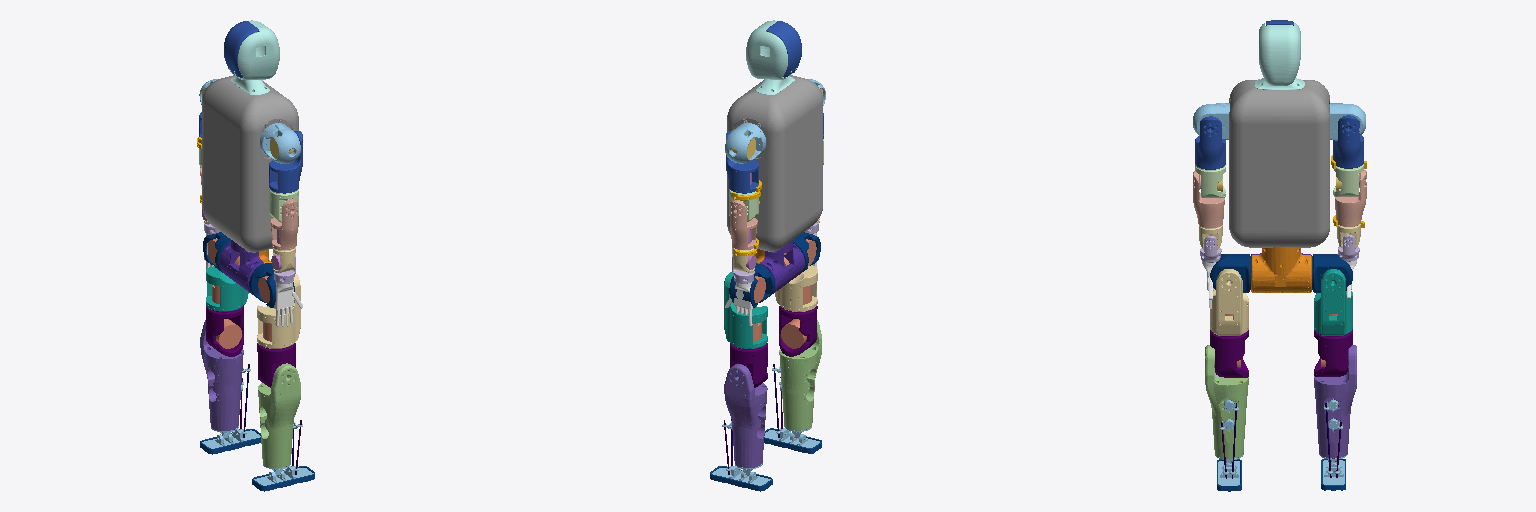
--- Facts derived from the render (not from the file) ---
3 views of the same robot in one strip: view 1: azimuth 30°, elevation 25°; view 2: azimuth 150°, elevation 25°; view 3: azimuth 270°, elevation 25° (orthographic).
Model robot_harambe with 26 links and 25 joints (23 revolute, 2 fixed), rooted at urdf_base, posed all joints at 0.
Visible links, largest first — view 1: urdf_simplified_torso_sub_assembly, urdf_r_tibia_assembly, urdf_l_tibia_assembly, urdf_r_upper_femur_assemby, urdf_lower_femur_assembly, urdf_l_upper_femur_assembly, urdf_base, urdf_r_shoulder_assembly, urdf_r_upper_arm_assembly, urdf_r_upper_forearm_assembly, urdf_lower_femur_assembly_2, urdf_r_wrist_assembly (+2 smaller); view 2: urdf_simplified_torso_sub_assembly, urdf_l_tibia_assembly, urdf_r_tibia_assembly, urdf_l_upper_femur_assembly, urdf_lower_femur_assembly_2, urdf_r_upper_femur_assemby, urdf_base, urdf_l_shoulder_assembly, urdf_l_upper_forearm_assembly, urdf_l_upper_arm_assembly, urdf_lower_femur_assembly, urdf_hip_assembly (+2 smaller); view 3: urdf_simplified_torso_sub_assembly, urdf_r_tibia_assembly, urdf_l_tibia_assembly, urdf_base, urdf_r_upper_femur_assemby, urdf_l_upper_femur_assembly, urdf_l_upper_arm_assembly, urdf_lower_femur_assembly_2, urdf_r_upper_arm_assembly, urdf_lower_femur_assembly, urdf_l_upper_forearm_assembly, urdf_r_upper_forearm_assembly (+7 smaller).
Boxes of the visible links, x1,y1,x2,y2 form: urdf_simplified_torso_sub_assembly: (202, 20, 298, 252); urdf_r_tibia_assembly: (252, 363, 314, 491); urdf_l_tibia_assembly: (200, 320, 260, 454); urdf_r_upper_femur_assemby: (257, 274, 300, 348); urdf_lower_femur_assembly: (206, 305, 243, 356); urdf_l_upper_femur_assembly: (206, 266, 248, 311); urdf_base: (219, 240, 271, 294); urdf_r_shoulder_assembly: (260, 123, 300, 163); urdf_r_upper_arm_assembly: (269, 131, 302, 193); urdf_r_upper_forearm_assembly: (271, 200, 297, 249); urdf_lower_femur_assembly_2: (257, 343, 295, 387); urdf_r_wrist_assembly: (274, 253, 302, 326); urdf_simplified_torso_sub_assembly: (727, 20, 822, 251); urdf_l_tibia_assembly: (710, 364, 772, 491); urdf_r_tibia_assembly: (764, 320, 821, 453); urdf_l_upper_femur_assembly: (724, 272, 767, 348); urdf_lower_femur_assembly_2: (779, 306, 817, 356); urdf_r_upper_femur_assemby: (775, 265, 817, 311); urdf_base: (755, 240, 804, 293); urdf_l_shoulder_assembly: (725, 123, 765, 163); urdf_l_upper_forearm_assembly: (730, 200, 758, 249); urdf_l_upper_arm_assembly: (726, 131, 761, 193); urdf_lower_femur_assembly: (730, 343, 767, 387); urdf_hip_assembly: (729, 263, 774, 307); urdf_simplified_torso_sub_assembly: (1229, 20, 1329, 247); urdf_r_tibia_assembly: (1205, 345, 1248, 491); urdf_l_tibia_assembly: (1314, 345, 1356, 490); urdf_base: (1251, 247, 1311, 292); urdf_r_upper_femur_assemby: (1210, 269, 1248, 335); urdf_l_upper_femur_assembly: (1314, 269, 1352, 335); urdf_l_upper_arm_assembly: (1331, 115, 1363, 168); urdf_lower_femur_assembly_2: (1210, 330, 1248, 377); urdf_r_upper_arm_assembly: (1195, 116, 1225, 169); urdf_lower_femur_assembly: (1314, 330, 1352, 376); urdf_l_upper_forearm_assembly: (1333, 170, 1366, 226); urdf_r_upper_forearm_assembly: (1193, 171, 1224, 227).
Size in the robot's own frame: 0.272 by 0.6192 by 1.77 metres.
130 mesh visuals loaded from 55 distinct referenced files (55 binary STL).

The robot description file, URDF, robot "robot_harambe":
<?xml version='1.0' encoding='utf-8'?>
<robot name="robot_harambe">
  <link name="urdf_base">
    <inertial>
      <origin xyz="0.0334604 -0.000699269 -0.431702" rpy="0 0 0" />
      <mass value="5.132" />
      <inertia ixx="0.0288848" ixy="2.35276e-07" ixz="-2.88595e-05" iyy="0.0213139" iyz="-6.5838e-06" izz="0.0155352" />
    </inertial>
    <visual>
      <origin xyz="0.0333787 0.0103011 -0.467748" rpy="-1.5708 0.785398 0" />
      <geometry>
        <mesh filename="package://assets/stator_x8_p20_120_unified.stl" />
      </geometry>
      <material name="stator_x8_p20_120_unified_material">
        <color rgba="0.882353 0.572549 0.478431 1" />
      </material>
    </visual>
    <collision>
      <origin xyz="0.0333787 0.0103011 -0.467748" rpy="-1.5708 0.785398 0" />
      <geometry>
        <mesh filename="package://assets/stator_x8_p20_120_unified.stl" />
      </geometry>
    </collision>
    <visual>
      <origin xyz="-0.00271429 -0.000697952 -0.432504" rpy="0 0 -1.5708" />
      <geometry>
        <mesh filename="package://assets/b_base.stl" />
      </geometry>
      <material name="b_base_material">
        <color rgba="0.368627 0.25098 0.643137 1" />
      </material>
    </visual>
    <collision>
      <origin xyz="-0.00271429 -0.000697952 -0.432504" rpy="0 0 -1.5708" />
      <geometry>
        <mesh filename="package://assets/b_base.stl" />
      </geometry>
    </collision>
    <visual>
      <origin xyz="0.0333787 -0.0116989 -0.467748" rpy="1.5708 -0.785398 0" />
      <geometry>
        <mesh filename="package://assets/stator_x8_p20_120_unified.stl" />
      </geometry>
      <material name="stator_x8_p20_120_unified_2_material">
        <color rgba="0.882353 0.572549 0.478431 1" />
      </material>
    </visual>
    <collision>
      <origin xyz="0.0333787 -0.0116989 -0.467748" rpy="1.5708 -0.785398 0" />
      <geometry>
        <mesh filename="package://assets/stator_x8_p20_120_unified.stl" />
      </geometry>
    </collision>
    <visual>
      <origin xyz="0.0333787 -0.000698852 -0.396748" rpy="0 0 -1.5708" />
      <geometry>
        <mesh filename="package://assets/stator_x8_p20_120_unified.stl" />
      </geometry>
      <material name="stator_x8_p20_120_unified_3_material">
        <color rgba="0.882353 0.572549 0.478431 1" />
      </material>
    </visual>
    <collision>
      <origin xyz="0.0333787 -0.000698852 -0.396748" rpy="0 0 -1.5708" />
      <geometry>
        <mesh filename="package://assets/stator_x8_p20_120_unified.stl" />
      </geometry>
    </collision>
    <visual>
      <origin xyz="0.070373 -0.000705351 -0.431099" rpy="0 0 -1.5708" />
      <geometry>
        <mesh filename="package://assets/f_base.stl" />
      </geometry>
      <material name="f_base_material">
        <color rgba="0.909804 0.572549 0.164706 1" />
      </material>
    </visual>
    <collision>
      <origin xyz="0.070373 -0.000705351 -0.431099" rpy="0 0 -1.5708" />
      <geometry>
        <mesh filename="package://assets/f_base.stl" />
      </geometry>
    </collision>
  </link>
  <link name="urdf_simplified_torso_sub_assembly">
    <inertial>
      <origin xyz="0.00084485 -0.00587549 0.417851" rpy="0 0 0" />
      <mass value="9.22071" />
      <inertia ixx="0.324451" ixy="2.3692e-08" ixz="-0.00208618" iyy="0.220452" iyz="-0.000110066" izz="0.138166" />
    </inertial>
    <visual>
      <origin xyz="4.00834e-06 -0.168755 0.427883" rpy="0 0 -1.5708" />
      <geometry>
        <mesh filename="package://assets/urdf_r_plate_shoulder_with_limiter_pla.stl" />
      </geometry>
      <material name="urdf_r_plate_shoulder_with_limiter_pla_material">
        <color rgba="0.647059 0.647059 0.647059 1" />
      </material>
    </visual>
    <collision>
      <origin xyz="4.00834e-06 -0.168755 0.427883" rpy="0 0 -1.5708" />
      <geometry>
        <mesh filename="package://assets/urdf_r_plate_shoulder_with_limiter_pla.stl" />
      </geometry>
    </collision>
    <visual>
      <origin xyz="4.00839e-06 0.156752 0.427883" rpy="0 0 -1.5708" />
      <geometry>
        <mesh filename="package://assets/urdf_l_plate_shoulder_with_limiter_pla.stl" />
      </geometry>
      <material name="urdf_l_plate_shoulder_with_limiter_pla_material">
        <color rgba="0.615686 0.811765 0.929412 1" />
      </material>
    </visual>
    <collision>
      <origin xyz="4.00839e-06 0.156752 0.427883" rpy="0 0 -1.5708" />
      <geometry>
        <mesh filename="package://assets/urdf_l_plate_shoulder_with_limiter_pla.stl" />
      </geometry>
    </collision>
    <visual>
      <origin xyz="4.00839e-06 -0.0990017 0.427" rpy="-3.14159 1.57079 1.5708" />
      <geometry>
        <mesh filename="package://assets/stator_x6_p20_60_unified.stl" />
      </geometry>
      <material name="stator_x6_p20_60_unified_material">
        <color rgba="0.960784 0.835294 0.470588 1" />
      </material>
    </visual>
    <collision>
      <origin xyz="4.00839e-06 -0.0990017 0.427" rpy="-3.14159 1.57079 1.5708" />
      <geometry>
        <mesh filename="package://assets/stator_x6_p20_60_unified.stl" />
      </geometry>
    </collision>
    <visual>
      <origin xyz="4.00839e-06 0.0869983 0.427" rpy="0 1.57079 1.5708" />
      <geometry>
        <mesh filename="package://assets/stator_x6_p20_60_unified.stl" />
      </geometry>
      <material name="stator_x6_p20_60_unified_2_material">
        <color rgba="0.960784 0.835294 0.470588 1" />
      </material>
    </visual>
    <collision>
      <origin xyz="4.00839e-06 0.0869983 0.427" rpy="0 1.57079 1.5708" />
      <geometry>
        <mesh filename="package://assets/stator_x6_p20_60_unified.stl" />
      </geometry>
    </collision>
    <visual>
      <origin xyz="4.00844e-06 -0.00600172 0.2625" rpy="0 0 -1.5708" />
      <geometry>
        <mesh filename="package://assets/urdf_simplified_torso.stl" />
      </geometry>
      <material name="urdf_simplified_torso_material">
        <color rgba="0.647059 0.647059 0.647059 1" />
      </material>
    </visual>
    <collision>
      <origin xyz="4.00844e-06 -0.00600172 0.2625" rpy="0 0 -1.5708" />
      <geometry>
        <mesh filename="package://assets/urdf_simplified_torso.stl" />
      </geometry>
    </collision>
    <visual>
      <origin xyz="0 0 0.005" rpy="0 0 -1.5708" />
      <geometry>
        <mesh filename="package://assets/urdf_torso_pelvis_plate_pla.stl" />
      </geometry>
      <material name="urdf_torso_pelvis_plate_pla_material">
        <color rgba="0.231373 0.380392 0.705882 1" />
      </material>
    </visual>
    <collision>
      <origin xyz="0 0 0.005" rpy="0 0 -1.5708" />
      <geometry>
        <mesh filename="package://assets/urdf_torso_pelvis_plate_pla.stl" />
      </geometry>
    </collision>
    <visual>
      <origin xyz="4.18304e-05 -0.00635981 0.6725" rpy="0 0 -1.5708" />
      <geometry>
        <mesh filename="package://assets/head.stl" />
      </geometry>
      <material name="head_material">
        <color rgba="0.737255 0.937255 0.917647 1" />
      </material>
    </visual>
    <collision>
      <origin xyz="4.18304e-05 -0.00635981 0.6725" rpy="0 0 -1.5708" />
      <geometry>
        <mesh filename="package://assets/head.stl" />
      </geometry>
    </collision>
    <visual>
      <origin xyz="4.18304e-05 -0.00635981 0.674429" rpy="0 0 -1.5708" />
      <geometry>
        <mesh filename="package://assets/back_access.stl" />
      </geometry>
      <material name="back_access_material">
        <color rgba="0.231373 0.380392 0.705882 1" />
      </material>
    </visual>
    <collision>
      <origin xyz="4.18304e-05 -0.00635981 0.674429" rpy="0 0 -1.5708" />
      <geometry>
        <mesh filename="package://assets/back_access.stl" />
      </geometry>
    </collision>
  </link>
  <link name="urdf_l_shoulder_assembly">
    <inertial>
      <origin xyz="-0.00497539 0.06724 -1.66088e-05" rpy="0 0 0" />
      <mass value="3.07135" />
      <inertia ixx="0.0035417" ixy="-2.84269e-05" ixz="-1.44615e-06" iyy="0.00290943" iyz="-3.53609e-06" izz="0.00313077" />
    </inertial>
    <visual>
      <origin xyz="-0.00130076 0.0502746 -6.96176e-06" rpy="0 0 -1.5708" />
      <geometry>
        <mesh filename="package://assets/l_shoulder.stl" />
      </geometry>
      <material name="l_shoulder_material">
        <color rgba="0.615686 0.811765 0.929412 1" />
      </material>
    </visual>
    <collision>
      <origin xyz="-0.00130076 0.0502746 -6.96176e-06" rpy="0 0 -1.5708" />
      <geometry>
        <mesh filename="package://assets/l_shoulder.stl" />
      </geometry>
    </collision>
    <visual>
      <origin xyz="-0.0385 0.07 1.02163e-07" rpy="-1.5708 0 -1.5708" />
      <geometry>
        <mesh filename="package://assets/stator_x6_p20_60_unified.stl" />
      </geometry>
      <material name="stator_x6_p20_60_unified_3_material">
        <color rgba="0.960784 0.835294 0.470588 1" />
      </material>
    </visual>
    <collision>
      <origin xyz="-0.0385 0.07 1.02163e-07" rpy="-1.5708 0 -1.5708" />
      <geometry>
        <mesh filename="package://assets/stator_x6_p20_60_unified.stl" />
      </geometry>
    </collision>
  </link>
  <link name="urdf_l_upper_arm_assembly">
    <inertial>
      <origin xyz="-0.0355919 -0.00100166 -0.105781" rpy="0 0 0" />
      <mass value="0.822" />
      <inertia ixx="0.0019913" ixy="-1.65839e-05" ixz="-0.00049977" iyy="0.00215042" iyz="-4.34174e-05" izz="0.00109808" />
    </inertial>
    <visual>
      <origin xyz="-0.0675144 -0.0411513 -0.158216" rpy="0 0 -1.5708" />
      <geometry>
        <mesh filename="package://assets/arm_limiter.stl" />
      </geometry>
      <material name="arm_limiter_material">
        <color rgba="1 0.756863 0.054902 1" />
      </material>
    </visual>
    <collision>
      <origin xyz="-0.0675144 -0.0411513 -0.158216" rpy="0 0 -1.5708" />
      <geometry>
        <mesh filename="package://assets/arm_limiter.stl" />
      </geometry>
    </collision>
    <visual>
      <origin xyz="-0.0256703 -3.97868e-07 -0.0912885" rpy="0 0 -1.5708" />
      <geometry>
        <mesh filename="package://assets/l_upper_arm.stl" />
      </geometry>
      <material name="l_upper_arm_material">
        <color rgba="0.231373 0.380392 0.705882 1" />
      </material>
    </visual>
    <collision>
      <origin xyz="-0.0256703 -3.97868e-07 -0.0912885" rpy="0 0 -1.5708" />
      <geometry>
        <mesh filename="package://assets/l_upper_arm.stl" />
      </geometry>
    </collision>
    <visual>
      <origin xyz="-0.046 -3.34262e-07 -0.091" rpy="3.14159 0 -1.5708" />
      <geometry>
        <mesh filename="package://assets/stator_x4_p36_36_unified.stl" />
      </geometry>
      <material name="stator_x4_p36_36_unified_material">
        <color rgba="0.764706 0.545098 0.803922 1" />
      </material>
    </visual>
    <collision>
      <origin xyz="-0.046 -3.34262e-07 -0.091" rpy="3.14159 0 -1.5708" />
      <geometry>
        <mesh filename="package://assets/stator_x4_p36_36_unified.stl" />
      </geometry>
    </collision>
  </link>
  <link name="urdf_l_elbow_assembly">
    <inertial>
      <origin xyz="-0.000233513 -0.00994774 -0.0631484" rpy="0 0 0" />
      <mass value="2.98735" />
      <inertia ixx="0.00298255" ixy="2.33726e-05" ixz="3.70633e-05" iyy="0.00314902" iyz="-0.000124999" izz="0.00265174" />
    </inertial>
    <visual>
      <origin xyz="-0.0350673 0.0364319 -0.00907087" rpy="0 0 -1.5708" />
      <geometry>
        <mesh filename="package://assets/elbow_limiter.stl" />
      </geometry>
      <material name="elbow_limiter_material">
        <color rgba="1 0.756863 0.054902 1" />
      </material>
    </visual>
    <collision>
      <origin xyz="-0.0350673 0.0364319 -0.00907087" rpy="0 0 -1.5708" />
      <geometry>
        <mesh filename="package://assets/elbow_limiter.stl" />
      </geometry>
    </collision>
    <visual>
      <origin xyz="0 -0.0445 -0.065" rpy="0 1.57079 1.5708" />
      <geometry>
        <mesh filename="package://assets/stator_x6_p20_60_unified.stl" />
      </geometry>
      <material name="stator_x6_p20_60_unified_4_material">
        <color rgba="0.960784 0.835294 0.470588 1" />
      </material>
    </visual>
    <collision>
      <origin xyz="0 -0.0445 -0.065" rpy="0 1.57079 1.5708" />
      <geometry>
        <mesh filename="package://assets/stator_x6_p20_60_unified.stl" />
      </geometry>
    </collision>
    <visual>
      <origin xyz="1.15447e-05 0.000331628 -0.0512953" rpy="0 0 -1.5708" />
      <geometry>
        <mesh filename="package://assets/l_elbow.stl" />
      </geometry>
      <material name="l_elbow_material">
        <color rgba="0.796078 0.905882 0.745098 1" />
      </material>
    </visual>
    <collision>
      <origin xyz="1.15447e-05 0.000331628 -0.0512953" rpy="0 0 -1.5708" />
      <geometry>
        <mesh filename="package://assets/l_elbow.stl" />
      </geometry>
    </collision>
  </link>
  <link name="urdf_l_upper_forearm_assembly">
    <inertial>
      <origin xyz="0.00170809 -0.0340287 -0.103744" rpy="0 0 0" />
      <mass value="0.727" />
      <inertia ixx="0.00176929" ixy="1.34904e-06" ixz="-5.81831e-06" iyy="0.0015348" iyz="-0.000394864" izz="0.000766079" />
    </inertial>
    <visual>
      <origin xyz="-0.0189086 -0.0747704 -0.156122" rpy="0 0 -1.5708" />
      <geometry>
        <mesh filename="package://assets/forearm_limiter.stl" />
      </geometry>
      <material name="forearm_limiter_material">
        <color rgba="1 0.756863 0.054902 1" />
      </material>
    </visual>
    <collision>
      <origin xyz="-0.0189086 -0.0747704 -0.156122" rpy="0 0 -1.5708" />
      <geometry>
        <mesh filename="package://assets/forearm_limiter.stl" />
      </geometry>
    </collision>
    <visual>
      <origin xyz="0.00467041 -0.0254855 -0.0842108" rpy="0 0 -1.5708" />
      <geometry>
        <mesh filename="package://assets/l_upper_forearm.stl" />
      </geometry>
      <material name="l_upper_forearm_material">
        <color rgba="0.890196 0.698039 0.639216 1" />
      </material>
    </visual>
    <collision>
      <origin xyz="0.00467041 -0.0254855 -0.0842108" rpy="0 0 -1.5708" />
      <geometry>
        <mesh filename="package://assets/l_upper_forearm.stl" />
      </geometry>
    </collision>
    <visual>
      <origin xyz="3.30588e-07 -0.04 -0.09" rpy="-3.14159 0 -1.5708" />
      <geometry>
        <mesh filename="package://assets/stator_x4_p36_36_unified.stl" />
      </geometry>
      <material name="stator_x4_p36_36_unified_2_material">
        <color rgba="0.764706 0.545098 0.803922 1" />
      </material>
    </visual>
    <collision>
      <origin xyz="3.30588e-07 -0.04 -0.09" rpy="-3.14159 0 -1.5708" />
      <geometry>
        <mesh filename="package://assets/stator_x4_p36_36_unified.stl" />
      </geometry>
    </collision>
  </link>
  <link name="urdf_l_lower_forearm_assembly">
    <inertial>
      <origin xyz="-0.00570813 0.00114678 -0.0477193" rpy="0 0 0" />
      <mass value="0.553" />
      <inertia ixx="0.000521453" ixy="6.12847e-06" ixz="-1.24836e-05" iyy="0.000524359" iyz="-2.55712e-05" izz="0.000391379" />
    </inertial>
    <visual>
      <origin xyz="-0.0248862 0.0317086 -0.00779106" rpy="0 0 -1.5708" />
      <geometry>
        <mesh filename="package://assets/hand_limiter.stl" />
      </geometry>
      <material name="hand_limiter_material">
        <color rgba="1 0.756863 0.054902 1" />
      </material>
    </visual>
    <collision>
      <origin xyz="-0.0248862 0.0317086 -0.00779106" rpy="0 0 -1.5708" />
      <geometry>
        <mesh filename="package://assets/hand_limiter.stl" />
      </geometry>
    </collision>
    <visual>
      <origin xyz="0.00198299 3.7846e-08 -0.0340631" rpy="0 0 -1.5708" />
      <geometry>
        <mesh filename="package://assets/l_lower_forearm.stl" />
      </geometry>
      <material name="l_lower_forearm_material">
        <color rgba="0.941176 0.87451 0.678431 1" />
      </material>
    </visual>
    <collision>
      <origin xyz="0.00198299 3.7846e-08 -0.0340631" rpy="0 0 -1.5708" />
      <geometry>
        <mesh filename="package://assets/l_lower_forearm.stl" />
      </geometry>
    </collision>
    <visual>
      <origin xyz="-0.038 0 -0.0565" rpy="1.5708 0 1.57079" />
      <geometry>
        <mesh filename="package://assets/stator_x4_p36_36_unified.stl" />
      </geometry>
      <material name="stator_x4_p36_36_unified_3_material">
        <color rgba="0.764706 0.545098 0.803922 1" />
      </material>
    </visual>
    <collision>
      <origin xyz="-0.038 0 -0.0565" rpy="1.5708 0 1.57079" />
      <geometry>
        <mesh filename="package://assets/stator_x4_p36_36_unified.stl" />
      </geometry>
    </collision>
  </link>
  <link name="urdf_l_wrist_assembly">
    <inertial>
      <origin xyz="-0.0282716 1.08315e-06 -0.112614" rpy="0 0 0" />
      <mass value="0.398" />
      <inertia ixx="0.00146537" ixy="-7.037e-09" ixz="-5.58167e-05" iyy="0.00160501" iyz="-2.3164e-08" izz="0.000274862" />
    </inertial>
    <visual>
      <origin xyz="-0.0219314 4.31502e-06 -0.0434653" rpy="0 0 -1.5708" />
      <geometry>
        <mesh filename="package://assets/l_wrist.stl" />
      </geometry>
      <material name="l_wrist_material">
        <color rgba="0.8 0.74902 0.913725 1" />
      </material>
    </visual>
    <collision>
      <origin xyz="-0.0219314 4.31502e-06 -0.0434653" rpy="0 0 -1.5708" />
      <geometry>
        <mesh filename="package://assets/l_wrist.stl" />
      </geometry>
    </collision>
    <visual>
      <origin xyz="-0.0303429 2.67e-09 -0.135203" rpy="0 0 0" />
      <geometry>
        <mesh filename="package://assets/l_hand.stl" />
      </geometry>
      <material name="l_hand_material">
        <color rgba="1 1 1 1" />
      </material>
    </visual>
    <collision>
      <origin xyz="-0.0303429 2.67e-09 -0.135203" rpy="0 0 0" />
      <geometry>
        <mesh filename="package://assets/l_hand.stl" />
      </geometry>
    </collision>
  </link>
  <joint name="left_wrist_roll_joint_X4" type="revolute">
    <origin xyz="0.033 0 -0.0565" rpy="0 0 0" />
    <parent link="urdf_l_lower_forearm_assembly" />
    <child link="urdf_l_wrist_assembly" />
    <axis xyz="1 0 0" />
    <limit effort="10" velocity="10" lower="-1.5708" upper="1.5708" />
  </joint>
  <joint name="left_wrist_yaw_joint_X4" type="revolute">
    <origin xyz="6.17098e-07 -0.04 -0.168" rpy="0 0 0" />
    <parent link="urdf_l_upper_forearm_assembly" />
    <child link="urdf_l_lower_forearm_assembly" />
    <axis xyz="0 0 1" />
    <limit effort="10" velocity="10" lower="-2.35619" upper="2.35619" />
  </joint>
  <joint name="left_elbow_pitch_joint_X6" type="revolute">
    <origin xyz="0 0.04 -0.065" rpy="0 0 0" />
    <parent link="urdf_l_elbow_assembly" />
    <child link="urdf_l_upper_forearm_assembly" />
    <axis xyz="0 1 0" />
    <limit effort="10" velocity="10" lower="-1.5708" upper="1.5708" />
  </joint>
  <joint name="left_shoulder_yaw_joint_X4" type="revolute">
    <origin xyz="-0.046 -6.24445e-07 -0.17" rpy="0 0 0" />
    <parent link="urdf_l_upper_arm_assembly" />
    <child link="urdf_l_elbow_assembly" />
    <axis xyz="0 0 1" />
    <limit effort="10" velocity="10" lower="-2.35619" upper="2.35619" />
  </joint>
  <joint name="left_shoulder_roll_joint_X6" type="revolute">
    <origin xyz="0.036 0.07 -9.55292e-08" rpy="0 0 0" />
    <parent link="urdf_l_shoulder_assembly" />
    <child link="urdf_l_upper_arm_assembly" />
    <axis xyz="1 0 0" />
    <limit effort="10" velocity="10" lower="0" upper="3.14159" />
  </joint>
  <joint name="left_shoulder_pitch_joint_X6" type="revolute">
    <origin xyz="4.00839e-06 0.169498 0.427" rpy="0 0 0" />
    <parent link="urdf_simplified_torso_sub_assembly" />
    <child link="urdf_l_shoulder_assembly" />
    <axis xyz="0 1 0" />
    <limit effort="10" velocity="10" lower="-3.14159" upper="1.5708" />
  </joint>
  <link name="urdf_r_shoulder_assembly">
    <inertial>
      <origin xyz="-0.00525946 -0.0685921 -9.06105e-06" rpy="0 0 0" />
      <mass value="2.84535" />
      <inertia ixx="0.00278215" ixy="1.19902e-05" ixz="-7.27684e-07" iyy="0.00243401" iyz="1.8265e-06" izz="0.00253762" />
    </inertial>
    <visual>
      <origin xyz="-0.0385 -0.07 1.02163e-07" rpy="-1.5708 0 -1.5708" />
      <geometry>
        <mesh filename="package://assets/stator_x6_p20_60_unified.stl" />
      </geometry>
      <material name="stator_x6_p20_60_unified_5_material">
        <color rgba="0.960784 0.835294 0.470588 1" />
      </material>
    </visual>
    <collision>
      <origin xyz="-0.0385 -0.07 1.02163e-07" rpy="-1.5708 0 -1.5708" />
      <geometry>
        <mesh filename="package://assets/stator_x6_p20_60_unified.stl" />
      </geometry>
    </collision>
    <visual>
      <origin xyz="-0.00129067 -0.0501448 -6.90836e-06" rpy="0 0 -1.5708" />
      <geometry>
        <mesh filename="package://assets/r_shoulder.stl" />
      </geometry>
      <material name="r_shoulder_material">
        <color rgba="0.615686 0.811765 0.929412 1" />
      </material>
    </visual>
    <collision>
      <origin xyz="-0.00129067 -0.0501448 -6.90836e-06" rpy="0 0 -1.5708" />
      <geometry>
        <mesh filename="package://assets/r_shoulder.stl" />
      </geometry>
    </collision>
  </link>
  <link name="urdf_r_upper_arm_assembly">
    <inertial>
      <origin xyz="-0.0297331 3.91738e-07 -0.104084" rpy="0 0 0" />
      <mass value="0.802" />
      <inertia ixx="0.00188605" ixy="2.8797e-09" ixz="-0.000468447" iyy="0.00204755" iyz="4.48483e-09" izz="0.0010158" />
    </inertial>
    <visual>
      <origin xyz="-0.041 3.34262e-07 -0.091" rpy="-3.14159 0 -1.5708" />
      <geometry>
        <mesh filename="package://assets/stator_x4_p36_36_unified.stl" />
      </geometry>
      <material name="stator_x4_p36_36_unified_4_material">
        <color rgba="0.764706 0.545098 0.803922 1" />
      </material>
    </visual>
    <collision>
      <origin xyz="-0.041 3.34262e-07 -0.091" rpy="-3.14159 0 -1.5708" />
      <geometry>
        <mesh filename="package://assets/stator_x4_p36_36_unified.stl" />
      </geometry>
    </collision>
    <visual>
      <origin xyz="-0.020543 3.79398e-07 -0.0905315" rpy="0 0 -1.5708" />
      <geometry>
        <mesh filename="package://assets/r_upper_arm.stl" />
      </geometry>
      <material name="r_upper_arm_material">
        <color rgba="0.231373 0.380392 0.705882 1" />
      </material>
    </visual>
    <collision>
      <origin xyz="-0.020543 3.79398e-07 -0.0905315" rpy="0 0 -1.5708" />
      <geometry>
        <mesh filename="package://assets/r_upper_arm.stl" />
      </geometry>
    </collision>
  </link>
  <link name="urdf_r_elbow_assembly">
    <inertial>
      <origin xyz="1.19265e-05 0.010381 -0.0635916" rpy="0 0 0" />
      <mass value="2.93435" />
      <inertia ixx="0.00279047" ixy="3.7473e-07" ixz="-2.33715e-06" iyy="0.00296574" iyz="6.85424e-05" izz="0.00250864" />
    </inertial>
    <visual>
      <origin xyz="1.16025e-05 -0.000331582 -0.0512953" rpy="0 0 -1.5708" />
      <geometry>
        <mesh filename="package://assets/r_elbow.stl" />
      </geometry>
      <material name="r_elbow_material">
        <color rgba="0.796078 0.905882 0.745098 1" />
      </material>
    </visual>
    <collision>
      <origin xyz="1.16025e-05 -0.000331582 -0.0512953" rpy="0 0 -1.5708" />
      <geometry>
        <mesh filename="package://assets/r_elbow.stl" />
      </geometry>
    </collision>
    <visual>
      <origin xyz="0 0.0445 -0.065" rpy="0 -1.57079 1.5708" />
      <geometry>
        <mesh filename="package://assets/stator_x6_p20_60_unified.stl" />
      </geometry>
      <material name="stator_x6_p20_60_unified_6_material">
        <color rgba="0.960784 0.835294 0.470588 1" />
      </material>
    </visual>
    <collision>
      <origin xyz="0 0.0445 -0.065" rpy="0 -1.57079 1.5708" />
      <geometry>
        <mesh filename="package://assets/stator_x6_p20_60_unified.stl" />
      </geometry>
    </collision>
  </link>
  <link name="urdf_r_upper_forearm_assembly">
    <inertial>
      <origin xyz="0.00228027 0.0327896 -0.101792" rpy="0 0 0" />
      <mass value="0.707" />
      <inertia ixx="0.00166903" ixy="-1.15859e-05" ixz="1.53763e-05" iyy="0.0014499" iyz="0.000352466" izz="0.000703651" />
    </inertial>
    <visual>
      <origin xyz="-3.30588e-07 0.04 -0.09" rpy="3.14159 0 -1.5708" />
      <geometry>
        <mesh filename="package://assets/stator_x4_p36_36_unified.stl" />
      </geometry>
      <material name="stator_x4_p36_36_unified_5_material">
        <color rgba="0.764706 0.545098 0.803922 1" />
      </material>
    </visual>
    <collision>
      <origin xyz="-3.30588e-07 0.04 -0.09" rpy="3.14159 0 -1.5708" />
      <geometry>
        <mesh filename="package://assets/stator_x4_p36_36_unified.stl" />
      </geometry>
    </collision>
    <visual>
      <origin xyz="0.00466955 0.0254856 -0.0842107" rpy="0 0 -1.5708" />
      <geometry>
        <mesh filename="package://assets/r_upper_forearm.stl" />
      </geometry>
      <material name="r_upper_forearm_material">
        <color rgba="0.890196 0.698039 0.639216 1" />
      </material>
    </visual>
    <collision>
      <origin xyz="0.00466955 0.0254856 -0.0842107" rpy="0 0 -1.5708" />
      <geometry>
        <mesh filename="package://assets/r_upper_forearm.stl" />
      </geometry>
    </collision>
  </link>
  <link name="urdf_r_lower_forearm_assembly">
    <inertial>
      <origin xyz="-0.00399848 2.4334e-08 -0.046852" rpy="0 0 0" />
      <mass value="0.618" />
      <inertia ixx="0.000617307" ixy="-1.76e-10" ixz="-3.83228e-05" iyy="0.000618602" iyz="5.34e-10" izz="0.000437775" />
    </inertial>
    <visual>
      <origin xyz="0.00205797 -4.2712e-08 -0.0333447" rpy="0 0 -1.5708" />
      <geometry>
        <mesh filename="package://assets/r_lower_forearm.stl" />
      </geometry>
      <material name="r_lower_forearm_material">
        <color rgba="0.941176 0.87451 0.678431 1" />
      </material>
    </visual>
    <collision>
      <origin xyz="0.00205797 -4.2712e-08 -0.0333447" rpy="0 0 -1.5708" />
      <geometry>
        <mesh filename="package://assets/r_lower_forearm.stl" />
      </geometry>
    </collision>
    <visual>
      <origin xyz="-0.038 0 -0.0565" rpy="1.5708 0 1.57079" />
      <geometry>
        <mesh filename="package://assets/stator_x4_p36_36_unified.stl" />
      </geometry>
      <material name="stator_x4_p36_36_unified_6_material">
        <color rgba="0.764706 0.545098 0.803922 1" />
      </material>
    </visual>
    <collision>
      <origin xyz="-0.038 0 -0.0565" rpy="1.5708 0 1.57079" />
      <geometry>
        <mesh filename="package://assets/stator_x4_p36_36_unified.stl" />
      </geometry>
    </collision>
  </link>
  <link name="urdf_r_wrist_assembly">
    <inertial>
      <origin xyz="-0.0275327 -1.54616e-06 -0.104482" rpy="0 0 0" />
      <mass value="0.45" />
      <inertia ixx="0.0017356" ixy="1.0208e-08" ixz="-9.3721e-05" iyy="0.001889" iyz="3.2626e-08" izz="0.000327099" />
    </inertial>
    <visual>
      <origin xyz="-0.0303429 -2.67e-09 -0.135003" rpy="0 0 3.14159" />
      <geometry>
        <mesh filename="package://assets/r_hand.stl" />
      </geometry>
      <material name="r_hand_material">
        <color rgba="1 1 1 1" />
      </material>
    </visual>
    <collision>
      <origin xyz="-0.0303429 -2.67e-09 -0.135003" rpy="0 0 3.14159" />
      <geometry>
        <mesh filename="package://assets/r_hand.stl" />
      </geometry>
    </collision>
    <visual>
      <origin xyz="-0.0219316 -4.44584e-06 -0.0434653" rpy="0 0 -1.5708" />
      <geometry>
        <mesh filename="package://assets/r_wrist.stl" />
      </geometry>
      <material name="r_wrist_material">
        <color rgba="0.8 0.74902 0.913725 1" />
      </material>
    </visual>
    <collision>
      <origin xyz="-0.0219316 -4.44584e-06 -0.0434653" rpy="0 0 -1.5708" />
      <geometry>
        <mesh filename="package://assets/r_wrist.stl" />
      </geometry>
    </collision>
  </link>
  <joint name="right_wrist_roll_joint_X4" type="revolute">
    <origin xyz="0.033 0 -0.0565" rpy="0 0 0" />
    <parent link="urdf_r_lower_forearm_assembly" />
    <child link="urdf_r_wrist_assembly" />
    <axis xyz="1 0 0" />
    <limit effort="10" velocity="10" lower="-1.5708" upper="1.5708" />
  </joint>
  <joint name="right_wrist_yaw_joint_X4" type="revolute">
    <origin xyz="-6.17098e-07 0.04 -0.168" rpy="0 0 0" />
    <parent link="urdf_r_upper_forearm_assembly" />
    <child link="urdf_r_lower_forearm_assembly" />
    <axis xyz="0 0 1" />
    <limit effort="10" velocity="10" lower="-2.35619" upper="2.35619" />
  </joint>
  <joint name="right_elbow_pitch_joint_X6" type="revolute">
    <origin xyz="0 -0.04 -0.065" rpy="0 0 0" />
    <parent link="urdf_r_elbow_assembly" />
    <child link="urdf_r_upper_forearm_assembly" />
    <axis xyz="0 1 0" />
    <limit effort="10" velocity="10" lower="-1.5708" upper="1.5708" />
  </joint>
  <joint name="right_shoulder_yaw_joint_X4" type="revolute">
    <origin xyz="-0.041 6.24445e-07 -0.17" rpy="0 0 0" />
    <parent link="urdf_r_upper_arm_assembly" />
    <child link="urdf_r_elbow_assembly" />
    <axis xyz="0 0 1" />
    <limit effort="10" velocity="10" lower="-2.35619" upper="2.35619" />
  </joint>
  <joint name="right_shoulder_roll_joint_X6" type="revolute">
    <origin xyz="0.041 -0.07 -1.08797e-07" rpy="0 0 0" />
    <parent link="urdf_r_shoulder_assembly" />
    <child link="urdf_r_upper_arm_assembly" />
    <axis xyz="1 0 0" />
    <limit effort="10" velocity="10" lower="-3.14159" upper="-0" />
  </joint>
  <joint name="right_shoulder_pitch_joint_X6" type="revolute">
    <origin xyz="4.00839e-06 -0.181502 0.427" rpy="0 0 0" />
    <parent link="urdf_simplified_torso_sub_assembly" />
    <child link="urdf_r_shoulder_assembly" />
    <axis xyz="0 1 0" />
    <limit effort="10" velocity="10" lower="-3.14159" upper="1.5708" />
  </joint>
  <joint name="waist_yaw_joint" type="revolute">
    <origin xyz="0.0333787 -0.000698852 -0.300748" rpy="0 0 0" />
    <parent link="urdf_base" />
    <child link="urdf_simplified_torso_sub_assembly" />
    <axis xyz="0 0 1" />
    <limit effort="10" velocity="10" lower="-1.5708" upper="1.5708" />
  </joint>
  <link name="urdf_hip_assembly">
    <inertial>
      <origin xyz="-0.00420762 0.0689982 -6.23945e-06" rpy="0 0 0" />
      <mass value="1.73" />
      <inertia ixx="0.00302301" ixy="2.30858e-05" ixz="4.5747e-08" iyy="0.00228746" iyz="-8.49179e-07" izz="0.00263533" />
    </inertial>
    <visual>
      <origin xyz="0.00253653 0.0520203 -3.27638e-05" rpy="0 0 -1.5708" />
      <geometry>
        <mesh filename="package://assets/hip.stl" />
      </geometry>
      <material name="hip_material">
        <color rgba="0.0627451 0.266667 0.490196 1" />
      </material>
    </visual>
    <collision>
      <origin xyz="0.00253653 0.0520203 -3.27638e-05" rpy="0 0 -1.5708" />
      <geometry>
        <mesh filename="package://assets/hip.stl" />
      </geometry>
    </collision>
    <visual>
      <origin xyz="-0.043 0.073 0" rpy="1.5708 0 1.5708" />
      <geometry>
        <mesh filename="package://assets/stator_x8_p20_120_unified.stl" />
      </geometry>
      <material name="stator_x8_p20_120_unified_4_material">
        <color rgba="0.882353 0.572549 0.478431 1" />
      </material>
    </visual>
    <collision>
      <origin xyz="-0.043 0.073 0" rpy="1.5708 0 1.5708" />
      <geometry>
        <mesh filename="package://assets/stator_x8_p20_120_unified.stl" />
      </geometry>
    </collision>
  </link>
  <link name="urdf_l_upper_femur_assembly">
    <inertial>
      <origin xyz="-0.0457109 0.000406567 -0.148741" rpy="0 0 0" />
      <mass value="1.912" />
      <inertia ixx="0.0051989" ixy="1.15719e-06" ixz="-0.000940749" iyy="0.0056213" iyz="-5.24664e-05" izz="0.00336495" />
    </inertial>
    <visual>
      <origin xyz="-0.0257799 0.00151663 -0.111785" rpy="0 0 -1.5708" />
      <geometry>
        <mesh filename="package://assets/l_upper_femur.stl" />
      </geometry>
      <material name="l_upper_femur_material">
        <color rgba="0.141176 0.694118 0.65098 1" />
      </material>
    </visual>
    <collision>
      <origin xyz="-0.0257799 0.00151663 -0.111785" rpy="0 0 -1.5708" />
      <geometry>
        <mesh filename="package://assets/l_upper_femur.stl" />
      </geometry>
    </collision>
    <visual>
      <origin xyz="-0.053 4.55477e-07 -0.124" rpy="3.14159 0 1.99137" />
      <geometry>
        <mesh filename="package://assets/rotor_x8_p20_120.stl" />
      </geometry>
      <material name="rotor_x8_p20_120_material">
        <color rgba="0.596078 0.176471 0.0509804 1" />
      </material>
    </visual>
    <collision>
      <origin xyz="-0.053 4.55477e-07 -0.124" rpy="3.14159 0 1.99137" />
      <geometry>
        <mesh filename="package://assets/rotor_x8_p20_120.stl" />
      </geometry>
    </collision>
    <visual>
      <origin xyz="-0.053 4.55477e-07 -0.124" rpy="-3.14159 0 -1.5708" />
      <geometry>
        <mesh filename="package://assets/stator_x8_p20_120.stl" />
      </geometry>
      <material name="stator_x8_p20_120_material">
        <color rgba="0.882353 0.572549 0.478431 1" />
      </material>
    </visual>
    <collision>
      <origin xyz="-0.053 4.55477e-07 -0.124" rpy="-3.14159 0 -1.5708" />
      <geometry>
        <mesh filename="package://assets/stator_x8_p20_120.stl" />
      </geometry>
    </collision>
  </link>
  <link name="urdf_lower_femur_assembly">
    <inertial>
      <origin xyz="-1.0389e-08 -0.00357383 -0.103307" rpy="0 0 0" />
      <mass value="1.817" />
      <inertia ixx="0.00383469" ixy="-2.5e-11" ixz="-2.1291e-08" iyy="0.00421827" iyz="-0.00019709" izz="0.00258541" />
    </inertial>
    <visual>
      <origin xyz="5.752e-09 0.00389134 -0.070766" rpy="0 0 -1.5708" />
      <geometry>
        <mesh filename="package://assets/lower_femur.stl" />
      </geometry>
      <material name="lower_femur_material">
        <color rgba="0.380392 0.0470588 0.435294 1" />
      </material>
    </visual>
    <collision>
      <origin xyz="5.752e-09 0.00389134 -0.070766" rpy="0 0 -1.5708" />
      <geometry>
        <mesh filename="package://assets/lower_femur.stl" />
      </geometry>
    </collision>
    <visual>
      <origin xyz="0 -0.043 -0.113" rpy="-3.14159 -1.57079 1.5708" />
      <geometry>
        <mesh filename="package://assets/stator_x8_p20_120_unified.stl" />
      </geometry>
      <material name="stator_x8_p20_120_unified_5_material">
        <color rgba="0.882353 0.572549 0.478431 1" />
      </material>
    </visual>
    <collision>
      <origin xyz="0 -0.043 -0.113" rpy="-3.14159 -1.57079 1.5708" />
      <geometry>
        <mesh filename="package://assets/stator_x8_p20_120_unified.stl" />
      </geometry>
    </collision>
  </link>
  <link name="urdf_l_tibia_assembly">
    <inertial>
      <origin xyz="0.015131 -0.0519322 -0.253045" rpy="0 0 0" />
      <mass value="4.89318" />
      <inertia ixx="0.070962" ixy="0.000216167" ixz="0.00320045" iyy="0.0742001" iyz="-0.00255494" izz="0.00924192" />
    </inertial>
    <visual>
      <origin xyz="0.0808489 -0.0729994 -0.287625" rpy="0.0610936 0.0269221 0.191443" />
      <geometry>
        <mesh filename="package://assets/m6_threaded_bar_300mm.stl" />
      </geometry>
      <material name="m6_threaded_bar_300mm_material">
        <color rgba="0.141176 0.0352941 0.396078 1" />
      </material>
    </visual>
    <collision>
      <origin xyz="0.0808489 -0.0729994 -0.287625" rpy="0.0610936 0.0269221 0.191443" />
      <geometry>
        <mesh filename="package://assets/m6_threaded_bar_300mm.stl" />
      </geometry>
    </collision>
    <visual>
      <origin xyz="0.0808488 -0.0360012 -0.325171" rpy="0.0566165 -0.0643278 -2.97336" />
      <geometry>
        <mesh filename="package://assets/m6_threaded_bar_225mm.stl" />
      </geometry>
      <material name="m6_threaded_bar_225mm_material">
        <color rgba="0.27451 0.0117647 0.317647 1" />
      </material>
    </visual>
    <collision>
      <origin xyz="0.0808488 -0.0360012 -0.325171" rpy="0.0566165 -0.0643278 -2.97336" />
      <geometry>
        <mesh filename="package://assets/m6_threaded_bar_225mm.stl" />
      </geometry>
    </collision>
    <visual>
      <origin xyz="0.0303226 -0.054 -0.449431" rpy="0 0 -1.5708" />
      <geometry>
        <mesh filename="package://assets/shoe.stl" />
      </geometry>
      <material name="shoe_material">
        <color rgba="0.0862745 0.321569 0.580392 1" />
      </material>
    </visual>
    <collision>
      <origin xyz="0.0303226 -0.054 -0.449431" rpy="0 0 -1.5708" />
      <geometry>
        <mesh filename="package://assets/shoe.stl" />
      </geometry>
    </collision>
    <visual>
      <origin xyz="0.0564984 -0.054 -0.424448" rpy="0 0 -1.5708" />
      <geometry>
        <mesh filename="package://assets/lower_fixation_leg_lontrol.stl" />
      </geometry>
      <material name="lower_fixation_leg_lontrol_material">
        <color rgba="0.615686 0.811765 0.929412 1" />
      </material>
    </visual>
    <collision>
      <origin xyz="0.0564984 -0.054 -0.424448" rpy="0 0 -1.5708" />
      <geometry>
        <mesh filename="package://assets/lower_fixation_leg_lontrol.stl" />
      </geometry>
    </collision>
    <visual>
      <origin xyz="0.0301364 -0.054 -0.444982" rpy="0 0 -1.5708" />
      <geometry>
        <mesh filename="package://assets/foot.stl" />
      </geometry>
      <material name="foot_material">
        <color rgba="0.615686 0.811765 0.929412 1" />
      </material>
    </visual>
    <collision>
      <origin xyz="0.0301364 -0.054 -0.444982" rpy="0 0 -1.5708" />
      <geometry>
        <mesh filename="package://assets/foot.stl" />
      </geometry>
    </collision>
    <visual>
      <origin xyz="-1.37929e-06 -0.055 -0.3755" rpy="0 0 -1.5708" />
      <geometry>
        <mesh filename="package://assets/spacer_bottom_tibia.stl" />
      </geometry>
      <material name="spacer_bottom_tibia_material">
        <color rgba="0.615686 0.811765 0.929412 1" />
      </material>
    </visual>
    <collision>
      <origin xyz="-1.37929e-06 -0.055 -0.3755" rpy="0 0 -1.5708" />
      <geometry>
        <mesh filename="package://assets/spacer_bottom_tibia.stl" />
      </geometry>
    </collision>
    <visual>
      <origin xyz="0.000690997 -0.0429128 -0.182574" rpy="0 0 -1.5708" />
      <geometry>
        <mesh filename="package://assets/l_tibia.stl" />
      </geometry>
      <material name="l_tibia_material">
        <color rgba="0.513725 0.415686 0.733333 1" />
      </material>
    </visual>
    <collision>
      <origin xyz="0.000690997 -0.0429128 -0.182574" rpy="0 0 -1.5708" />
      <geometry>
        <mesh filename="package://assets/l_tibia.stl" />
      </geometry>
    </collision>
    <visual>
      <origin xyz="0.0759985 -0.042 -0.415" rpy="-1.5708 0 -1.5708" />
      <geometry>
        <mesh filename="package://assets/m6_threaded_eye.stl" />
      </geometry>
      <material name="m6_threaded_eye_material">
        <color rgba="0.615686 0.811765 0.929412 1" />
      </material>
    </visual>
    <collision>
      <origin xyz="0.0759985 -0.042 -0.415" rpy="-1.5708 0 -1.5708" />
      <geometry>
        <mesh filename="package://assets/m6_threaded_eye.stl" />
      </geometry>
    </collision>
    <visual>
      <origin xyz="0.0759985 -0.042 -0.415" rpy="-1.63522 -0.0565022 -1.39892" />
      <geometry>
        <mesh filename="package://assets/12_7mm_ball_with_6mm_hole.stl" />
      </geometry>
      <material name="12_7mm_ball_with_6mm_hole_material">
        <color rgba="0.647059 0.647059 0.647059 1" />
      </material>
    </visual>
    <collision>
      <origin xyz="0.0759985 -0.042 -0.415" rpy="-1.63522 -0.0565022 -1.39892" />
      <geometry>
        <mesh filename="package://assets/12_7mm_ball_with_6mm_hole.stl" />
      </geometry>
    </collision>
    <visual>
      <origin xyz="0.0164984 -0.054 -0.423" rpy="3.14159 0 -1.5708" />
      <geometry>
        <mesh filename="package://assets/rulment_d22_x_d8_x_t7.stl" />
      </geometry>
      <material name="rulment_d22_x_d8_x_t7_material">
        <color rgba="0.901961 0.901961 0.901961 1" />
      </material>
    </visual>
    <collision>
      <origin xyz="0.0164984 -0.054 -0.423" rpy="3.14159 0 -1.5708" />
      <geometry>
        <mesh filename="package://assets/rulment_d22_x_d8_x_t7.stl" />
      </geometry>
    </collision>
    <visual>
      <origin xyz="0.0191783 -0.054 -0.428357" rpy="0 0 -1.5708" />
      <geometry>
        <mesh filename="package://assets/ankle_bearing_house.stl" />
      </geometry>
      <material name="ankle_bearing_house_material">
        <color rgba="0.615686 0.811765 0.929412 1" />
      </material>
    </visual>
    <collision>
      <origin xyz="0.0191783 -0.054 -0.428357" rpy="0 0 -1.5708" />
      <geometry>
        <mesh filename="package://assets/ankle_bearing_house.stl" />
      </geometry>
    </collision>
    <visual>
      <origin xyz="0.0759985 -0.066 -0.415" rpy="-1.5708 0 -1.5708" />
      <geometry>
        <mesh filename="package://assets/m6_threaded_eye.stl" />
      </geometry>
      <material name="m6_threaded_eye_2_material">
        <color rgba="0.615686 0.811765 0.929412 1" />
      </material>
    </visual>
    <collision>
      <origin xyz="0.0759985 -0.066 -0.415" rpy="-1.5708 0 -1.5708" />
      <geometry>
        <mesh filename="package://assets/m6_threaded_eye.stl" />
      </geometry>
    </collision>
    <visual>
      <origin xyz="0.0759985 -0.066 -0.415" rpy="-1.50971 0.0269221 0.191443" />
      <geometry>
        <mesh filename="package://assets/12_7mm_ball_with_6mm_hole.stl" />
      </geometry>
      <material name="12_7mm_ball_with_6mm_hole_2_material">
        <color rgba="0.647059 0.647059 0.647059 1" />
      </material>
    </visual>
    <collision>
      <origin xyz="0.0759985 -0.066 -0.415" rpy="-1.50971 0.0269221 0.191443" />
      <geometry>
        <mesh filename="package://assets/12_7mm_ball_with_6mm_hole.stl" />
      </geometry>
    </collision>
    <visual>
      <origin xyz="-0.0165016 -0.054 -0.423" rpy="-3.14159 0 1.5708" />
      <geometry>
        <mesh filename="package://assets/rulment_d22_x_d8_x_t7.stl" />
      </geometry>
      <material name="rulment_d22_x_d8_x_t7_2_material">
        <color rgba="0.901961 0.901961 0.901961 1" />
      </material>
    </visual>
    <collision>
      <origin xyz="-0.0165016 -0.054 -0.423" rpy="-3.14159 0 1.5708" />
      <geometry>
        <mesh filename="package://assets/rulment_d22_x_d8_x_t7.stl" />
      </geometry>
    </collision>
    <visual>
      <origin xyz="-0.0191815 -0.054 -0.428357" rpy="0 0 1.5708" />
      <geometry>
        <mesh filename="package://assets/ankle_bearing_house.stl" />
      </geometry>
      <material name="ankle_bearing_house_2_material">
        <color rgba="0.615686 0.811765 0.929412 1" />
      </material>
    </visual>
    <collision>
      <origin xyz="-0.0191815 -0.054 -0.428357" rpy="0 0 1.5708" />
      <geometry>
        <mesh filename="package://assets/ankle_bearing_house.stl" />
      </geometry>
    </collision>
    <visual>
      <origin xyz="-1.45092e-06 -0.0445 -0.395" rpy="0 0 3.14159" />
      <geometry>
        <mesh filename="package://assets/rulment_d22_x_d8_x_t7.stl" />
      </geometry>
      <material name="rulment_d22_x_d8_x_t7_3_material">
        <color rgba="0.901961 0.901961 0.901961 1" />
      </material>
    </visual>
    <collision>
      <origin xyz="-1.45092e-06 -0.0445 -0.395" rpy="0 0 3.14159" />
      <geometry>
        <mesh filename="package://assets/rulment_d22_x_d8_x_t7.stl" />
      </geometry>
    </collision>
    <visual>
      <origin xyz="-1.43124e-06 -0.0418201 -0.389643" rpy="3.14159 0 3.14159" />
      <geometry>
        <mesh filename="package://assets/ankle_bearing_house.stl" />
      </geometry>
      <material name="ankle_bearing_house_3_material">
        <color rgba="0.615686 0.811765 0.929412 1" />
      </material>
    </visual>
    <collision>
      <origin xyz="-1.43124e-06 -0.0418201 -0.389643" rpy="3.14159 0 3.14159" />
      <geometry>
        <mesh filename="package://assets/ankle_bearing_house.stl" />
      </geometry>
    </collision>
    <visual>
      <origin xyz="-0.0180006 -0.055 -0.16" rpy="-1.5708 0 -1.5708" />
      <geometry>
        <mesh filename="package://assets/rotor_x4_p36_36.stl" />
      </geometry>
      <material name="rotor_x4_p36_36_material">
        <color rgba="0.380392 0.0470588 0.435294 1" />
      </material>
    </visual>
    <collision>
      <origin xyz="-0.0180006 -0.055 -0.16" rpy="-1.5708 0 -1.5708" />
      <geometry>
        <mesh filename="package://assets/rotor_x4_p36_36.stl" />
      </geometry>
    </collision>
    <visual>
      <origin xyz="-0.0180006 -0.055 -0.16" rpy="-1.5708 0 -1.5708" />
      <geometry>
        <mesh filename="package://assets/stator_x4_p36_36.stl" />
      </geometry>
      <material name="stator_x4_p36_36_material">
        <color rgba="0.764706 0.545098 0.803922 1" />
      </material>
    </visual>
    <collision>
      <origin xyz="-0.0180006 -0.055 -0.16" rpy="-1.5708 0 -1.5708" />
      <geometry>
        <mesh filename="package://assets/stator_x4_p36_36.stl" />
      </geometry>
    </collision>
    <visual>
      <origin xyz="-0.0180009 -0.055 -0.235" rpy="1.5708 0 1.5708" />
      <geometry>
        <mesh filename="package://assets/rotor_x4_p36_36.stl" />
      </geometry>
      <material name="rotor_x4_p36_36_2_material">
        <color rgba="0.380392 0.0470588 0.435294 1" />
      </material>
    </visual>
    <collision>
      <origin xyz="-0.0180009 -0.055 -0.235" rpy="1.5708 0 1.5708" />
      <geometry>
        <mesh filename="package://assets/rotor_x4_p36_36.stl" />
      </geometry>
    </collision>
    <visual>
      <origin xyz="-0.0180009 -0.055 -0.235" rpy="1.5708 0 1.5708" />
      <geometry>
        <mesh filename="package://assets/stator_x4_p36_36.stl" />
      </geometry>
      <material name="stator_x4_p36_36_2_material">
        <color rgba="0.764706 0.545098 0.803922 1" />
      </material>
    </visual>
    <collision>
      <origin xyz="-0.0180009 -0.055 -0.235" rpy="1.5708 0 1.5708" />
      <geometry>
        <mesh filename="package://assets/stator_x4_p36_36.stl" />
      </geometry>
    </collision>
    <visual>
      <origin xyz="-1.45092e-06 -0.0655 -0.395" rpy="0 0 0" />
      <geometry>
        <mesh filename="package://assets/rulment_d22_x_d8_x_t7.stl" />
      </geometry>
      <material name="rulment_d22_x_d8_x_t7_4_material">
        <color rgba="0.901961 0.901961 0.901961 1" />
      </material>
    </visual>
    <collision>
      <origin xyz="-1.45092e-06 -0.0655 -0.395" rpy="0 0 0" />
      <geometry>
        <mesh filename="package://assets/rulment_d22_x_d8_x_t7.stl" />
      </geometry>
    </collision>
    <visual>
      <origin xyz="-1.43124e-06 -0.0681799 -0.389643" rpy="-3.14159 0 0" />
      <geometry>
        <mesh filename="package://assets/ankle_bearing_house.stl" />
      </geometry>
      <material name="ankle_bearing_house_4_material">
        <color rgba="0.615686 0.811765 0.929412 1" />
      </material>
    </visual>
    <collision>
      <origin xyz="-1.43124e-06 -0.0681799 -0.389643" rpy="-3.14159 0 0" />
      <geometry>
        <mesh filename="package://assets/ankle_bearing_house.stl" />
      </geometry>
    </collision>
    <visual>
      <origin xyz="0.0659991 -0.0496487 -0.235073" rpy="3.14159 -0.0136963 -1.5708" />
      <geometry>
        <mesh filename="package://assets/lever_ankle.stl" />
      </geometry>
      <material name="lever_ankle_material">
        <color rgba="0.615686 0.811765 0.929412 1" />
      </material>
    </visual>
    <collision>
      <origin xyz="0.0659991 -0.0496487 -0.235073" rpy="3.14159 -0.0136963 -1.5708" />
      <geometry>
        <mesh filename="package://assets/lever_ankle.stl" />
      </geometry>
    </collision>
    <visual>
      <origin xyz="0.0700991 -0.0300023 -0.235342" rpy="-1.57079 -0.0136963 -1.5708" />
      <geometry>
        <mesh filename="package://assets/hex_nut_grade_a___b_m6x1__7468f1fe59412d2a2604ecf8e993c3bf.stl" />
      </geometry>
      <material name="hex_nut_grade_a___b_m6x1__7468f1fe59412d2a2604ecf8e993c3bf_material">
        <color rgba="0.603922 0.647059 0.686275 1" />
      </material>
    </visual>
    <collision>
      <origin xyz="0.0700991 -0.0300023 -0.235342" rpy="-1.57079 -0.0136963 -1.5708" />
      <geometry>
        <mesh filename="package://assets/hex_nut_grade_a___b_m6x1__7468f1fe59412d2a2604ecf8e993c3bf.stl" />
      </geometry>
    </collision>
    <visual>
      <origin xyz="0.0537491 -0.055 -0.235" rpy="3.14159 -0.0136963 -1.5708" />
      <geometry>
        <mesh filename="package://assets/spacer_lever_ankle.stl" />
      </geometry>
      <material name="spacer_lever_ankle_material">
        <color rgba="0.615686 0.811765 0.929412 1" />
      </material>
    </visual>
    <collision>
      <origin xyz="0.0537491 -0.055 -0.235" rpy="3.14159 -0.0136963 -1.5708" />
      <geometry>
        <mesh filename="package://assets/spacer_lever_ankle.stl" />
      </geometry>
    </collision>
    <visual>
      <origin xyz="0.0659994 -0.0603516 -0.160053" rpy="0 -0.00999633 1.5708" />
      <geometry>
        <mesh filename="package://assets/lever_ankle.stl" />
      </geometry>
      <material name="lever_ankle_2_material">
        <color rgba="0.615686 0.811765 0.929412 1" />
      </material>
    </visual>
    <collision>
      <origin xyz="0.0659994 -0.0603516 -0.160053" rpy="0 -0.00999633 1.5708" />
      <geometry>
        <mesh filename="package://assets/lever_ankle.stl" />
      </geometry>
    </collision>
    <visual>
      <origin xyz="0.0700994 -0.0799988 -0.16025" rpy="1.5708 -0.00999633 1.5708" />
      <geometry>
        <mesh filename="package://assets/hex_nut_grade_a___b_m6x1__7468f1fe59412d2a2604ecf8e993c3bf.stl" />
      </geometry>
      <material name="hex_nut_grade_a___b_m6x1__7468f1fe59412d2a2604ecf8e993c3bf_2_material">
        <color rgba="0.603922 0.647059 0.686275 1" />
      </material>
    </visual>
    <collision>
      <origin xyz="0.0700994 -0.0799988 -0.16025" rpy="1.5708 -0.00999633 1.5708" />
      <geometry>
        <mesh filename="package://assets/hex_nut_grade_a___b_m6x1__7468f1fe59412d2a2604ecf8e993c3bf.stl" />
      </geometry>
    </collision>
    <visual>
      <origin xyz="0.0537494 -0.055 -0.16" rpy="0 -0.00999633 1.5708" />
      <geometry>
        <mesh filename="package://assets/spacer_lever_ankle.stl" />
      </geometry>
      <material name="spacer_lever_ankle_2_material">
        <color rgba="0.615686 0.811765 0.929412 1" />
      </material>
    </visual>
    <collision>
      <origin xyz="0.0537494 -0.055 -0.16" rpy="0 -0.00999633 1.5708" />
      <geometry>
        <mesh filename="package://assets/spacer_lever_ankle.stl" />
      </geometry>
    </collision>
    <visual>
      <origin xyz="0.0856991 -0.0300023 -0.235342" rpy="-1.57079 -0.0136963 -1.5708" />
      <geometry>
        <mesh filename="package://assets/m6_threaded_eye.stl" />
      </geometry>
      <material name="m6_threaded_eye_3_material">
        <color rgba="0.615686 0.811765 0.929412 1" />
      </material>
    </visual>
    <collision>
      <origin xyz="0.0856991 -0.0300023 -0.235342" rpy="-1.57079 -0.0136963 -1.5708" />
      <geometry>
        <mesh filename="package://assets/m6_threaded_eye.stl" />
      </geometry>
    </collision>
    <visual>
      <origin xyz="0.0856991 -0.0300023 -0.235342" rpy="-1.51418 -0.0643278 -2.97336" />
      <geometry>
        <mesh filename="package://assets/12_7mm_ball_with_6mm_hole.stl" />
      </geometry>
      <material name="12_7mm_ball_with_6mm_hole_3_material">
        <color rgba="0.647059 0.647059 0.647059 1" />
      </material>
    </visual>
    <collision>
      <origin xyz="0.0856991 -0.0300023 -0.235342" rpy="-1.51418 -0.0643278 -2.97336" />
      <geometry>
        <mesh filename="package://assets/12_7mm_ball_with_6mm_hole.stl" />
      </geometry>
    </collision>
    <visual>
      <origin xyz="0.0856994 -0.0799988 -0.16025" rpy="1.5708 -0.00999633 1.5708" />
      <geometry>
        <mesh filename="package://assets/m6_threaded_eye.stl" />
      </geometry>
      <material name="m6_threaded_eye_4_material">
        <color rgba="0.615686 0.811765 0.929412 1" />
      </material>
    </visual>
    <collision>
      <origin xyz="0.0856994 -0.0799988 -0.16025" rpy="1.5708 -0.00999633 1.5708" />
      <geometry>
        <mesh filename="package://assets/m6_threaded_eye.stl" />
      </geometry>
    </collision>
    <visual>
      <origin xyz="0.0856994 -0.0799988 -0.16025" rpy="1.50971 -0.0269255 -2.95015" />
      <geometry>
        <mesh filename="package://assets/12_7mm_ball_with_6mm_hole.stl" />
      </geometry>
      <material name="12_7mm_ball_with_6mm_hole_4_material">
        <color rgba="0.647059 0.647059 0.647059 1" />
      </material>
    </visual>
    <collision>
      <origin xyz="0.0856994 -0.0799988 -0.16025" rpy="1.50971 -0.0269255 -2.95015" />
      <geometry>
        <mesh filename="package://assets/12_7mm_ball_with_6mm_hole.stl" />
      </geometry>
    </collision>
  </link>
  <link name="ankle_assembly">
    <inertial>
      <origin xyz="-4.60793e-08 -0.024 -0.0125447" rpy="0 0 0" />
      <mass value="0.0816337" />
      <inertia ixx="1.68911e-05" ixy="-3.1834e-27" ixz="-1.62341e-11" iyy="2.14344e-05" iyz="6.07251e-27" izz="1.24715e-05" />
    </inertial>
    <visual>
      <origin xyz="0 -0.024 0" rpy="0 0 -1.5708" />
      <geometry>
        <mesh filename="package://assets/upper_ankle_shaft.stl" />
      </geometry>
      <material name="upper_ankle_shaft_material">
        <color rgba="0.615686 0.811765 0.929412 1" />
      </material>
    </visual>
    <collision>
      <origin xyz="0 -0.024 0" rpy="0 0 -1.5708" />
      <geometry>
        <mesh filename="package://assets/upper_ankle_shaft.stl" />
      </geometry>
    </collision>
    <visual>
      <origin xyz="-3.36917e-08 -0.024 -0.00917229" rpy="0 0 -1.5708" />
      <geometry>
        <mesh filename="package://assets/ankle_ear.stl" />
      </geometry>
      <material name="ankle_ear_material">
        <color rgba="0.615686 0.811765 0.929412 1" />
      </material>
    </visual>
    <collision>
      <origin xyz="-3.36917e-08 -0.024 -0.00917229" rpy="0 0 -1.5708" />
      <geometry>
        <mesh filename="package://assets/ankle_ear.stl" />
      </geometry>
    </collision>
    <visual>
      <origin xyz="-1.0285e-07 -0.024 -0.028" rpy="0 0 -1.5708" />
      <geometry>
        <mesh filename="package://assets/ankle_shaft.stl" />
      </geometry>
      <material name="ankle_shaft_material">
        <color rgba="0.615686 0.811765 0.929412 1" />
      </material>
    </visual>
    <collision>
      <origin xyz="-1.0285e-07 -0.024 -0.028" rpy="0 0 -1.5708" />
      <geometry>
        <mesh filename="package://assets/ankle_shaft.stl" />
      </geometry>
    </collision>
  </link>
  <joint name="left_ankle_pitch_joint" type="revolute">
    <origin xyz="-1.45092e-06 -0.03 -0.395" rpy="0 0 0" />
    <parent link="urdf_l_tibia_assembly" />
    <child link="ankle_assembly" />
    <axis xyz="0 1 0" />
    <limit effort="10" velocity="10" lower="-0.785398" upper="0.785398" />
  </joint>
  <link name="ankle_assembly_2">
    <inertial>
      <origin xyz="-4.60795e-08 -0.024 -0.0125448" rpy="0 0 0" />
      <mass value="0.0816337" />
      <inertia ixx="1.68911e-05" ixy="8.7363e-17" ixz="-1.62341e-11" iyy="2.14344e-05" iyz="2.37839e-11" izz="1.24715e-05" />
    </inertial>
    <visual>
      <origin xyz="0 -0.024 -6.36862e-08" rpy="0 0 -1.5708" />
      <geometry>
        <mesh filename="package://assets/upper_ankle_shaft.stl" />
      </geometry>
      <material name="upper_ankle_shaft_2_material">
        <color rgba="0.615686 0.811765 0.929412 1" />
      </material>
    </visual>
    <collision>
      <origin xyz="0 -0.024 -6.36862e-08" rpy="0 0 -1.5708" />
      <geometry>
        <mesh filename="package://assets/upper_ankle_shaft.stl" />
      </geometry>
    </collision>
    <visual>
      <origin xyz="-3.36919e-08 -0.024 -0.00917235" rpy="0 0 -1.5708" />
      <geometry>
        <mesh filename="package://assets/ankle_ear.stl" />
      </geometry>
      <material name="ankle_ear_2_material">
        <color rgba="0.615686 0.811765 0.929412 1" />
      </material>
    </visual>
    <collision>
      <origin xyz="-3.36919e-08 -0.024 -0.00917235" rpy="0 0 -1.5708" />
      <geometry>
        <mesh filename="package://assets/ankle_ear.stl" />
      </geometry>
    </collision>
    <visual>
      <origin xyz="-1.0285e-07 -0.0239999 -0.0280001" rpy="0 0 -1.5708" />
      <geometry>
        <mesh filename="package://assets/ankle_shaft.stl" />
      </geometry>
      <material name="ankle_shaft_2_material">
        <color rgba="0.615686 0.811765 0.929412 1" />
      </material>
    </visual>
    <collision>
      <origin xyz="-1.0285e-07 -0.0239999 -0.0280001" rpy="0 0 -1.5708" />
      <geometry>
        <mesh filename="package://assets/ankle_shaft.stl" />
      </geometry>
    </collision>
  </link>
  <joint name="left_ankle_pitch_joint_2" type="fixed">
    <origin xyz="-1.45092e-06 -0.03 -0.395" rpy="0 0 0" />
    <parent link="urdf_l_tibia_assembly" />
    <child link="ankle_assembly_2" />
  </joint>
  <joint name="left_knee_joint" type="revolute">
    <origin xyz="0 0.055 -0.113" rpy="0 0 0" />
    <parent link="urdf_lower_femur_assembly" />
    <child link="urdf_l_tibia_assembly" />
    <axis xyz="0 1 0" />
    <limit effort="10" velocity="10" lower="-1.5708" upper="-0" />
  </joint>
  <joint name="left_hip_yaw_joint" type="revolute">
    <origin xyz="-0.053 7.97086e-07 -0.217" rpy="0 0 0" />
    <parent link="urdf_l_upper_femur_assembly" />
    <child link="urdf_lower_femur_assembly" />
    <axis xyz="0 0 1" />
    <limit effort="10" velocity="10" lower="-1.5708" upper="1.5708" />
  </joint>
  <joint name="left_hip_roll_joint" type="revolute">
    <origin xyz="0.055 0.073 0" rpy="0 0 0" />
    <parent link="urdf_hip_assembly" />
    <child link="urdf_l_upper_femur_assembly" />
    <axis xyz="1 0 0" />
    <limit effort="10" velocity="10" lower="-0.349066" upper="3.14159" />
  </joint>
  <joint name="left_hip_pitch_joint" type="revolute">
    <origin xyz="0.0333787 0.111301 -0.467748" rpy="0 0 0" />
    <parent link="urdf_base" />
    <child link="urdf_hip_assembly" />
    <axis xyz="0 1 0" />
    <limit effort="10" velocity="10" lower="-2.53073" upper="1.5708" />
  </joint>
  <link name="urdf_hip_assembly_2">
    <inertial>
      <origin xyz="-0.00420719 -0.0739982 -6.05312e-05" rpy="0 0 0" />
      <mass value="1.73" />
      <inertia ixx="0.00302291" ixy="-2.30694e-05" ixz="6.10556e-06" iyy="0.00228746" iyz="-1.21542e-06" izz="0.00263542" />
    </inertial>
    <visual>
      <origin xyz="0.00253569 -0.0570203 7.30113e-05" rpy="3.12572 0 1.5708" />
      <geometry>
        <mesh filename="package://assets/hip.stl" />
      </geometry>
      <material name="hip_2_material">
        <color rgba="0.0627451 0.266667 0.490196 1" />
      </material>
    </visual>
    <collision>
      <origin xyz="0.00253569 -0.0570203 7.30113e-05" rpy="3.12572 0 1.5708" />
      <geometry>
        <mesh filename="package://assets/hip.stl" />
      </geometry>
    </collision>
    <visual>
      <origin xyz="-0.0429946 -0.078 -0.000682358" rpy="-1.55493 0 -1.5708" />
      <geometry>
        <mesh filename="package://assets/stator_x8_p20_120_unified.stl" />
      </geometry>
      <material name="stator_x8_p20_120_unified_6_material">
        <color rgba="0.882353 0.572549 0.478431 1" />
      </material>
    </visual>
    <collision>
      <origin xyz="-0.0429946 -0.078 -0.000682358" rpy="-1.55493 0 -1.5708" />
      <geometry>
        <mesh filename="package://assets/stator_x8_p20_120_unified.stl" />
      </geometry>
    </collision>
  </link>
  <link name="urdf_r_upper_femur_assemby">
    <inertial>
      <origin xyz="-0.0457092 -0.000635047 -0.147962" rpy="0 0 0" />
      <mass value="1.912" />
      <inertia ixx="0.00513139" ixy="-2.69178e-06" ixz="-0.000930576" iyy="0.00557438" iyz="4.84028e-05" izz="0.0033672" />
    </inertial>
    <visual>
      <origin xyz="-0.0257733 -0.00168828 -0.111759" rpy="0 -0.00155 -1.5708" />
      <geometry>
        <mesh filename="package://assets/r_upper_femur.stl" />
      </geometry>
      <material name="r_upper_femur_material">
        <color rgba="0.941176 0.87451 0.678431 1" />
      </material>
    </visual>
    <collision>
      <origin xyz="-0.0257733 -0.00168828 -0.111759" rpy="0 -0.00155 -1.5708" />
      <geometry>
        <mesh filename="package://assets/r_upper_femur.stl" />
      </geometry>
    </collision>
    <visual>
      <origin xyz="-0.053 -0.0001922 -0.124" rpy="-3.14159 -0.00155 -1.5708" />
      <geometry>
        <mesh filename="package://assets/stator_x8_p20_120_unified.stl" />
      </geometry>
      <material name="stator_x8_p20_120_unified_7_material">
        <color rgba="0.882353 0.572549 0.478431 1" />
      </material>
    </visual>
    <collision>
      <origin xyz="-0.053 -0.0001922 -0.124" rpy="-3.14159 -0.00155 -1.5708" />
      <geometry>
        <mesh filename="package://assets/stator_x8_p20_120_unified.stl" />
      </geometry>
    </collision>
  </link>
  <link name="urdf_lower_femur_assembly_2">
    <inertial>
      <origin xyz="-4.09789e-09 0.00357383 -0.103307" rpy="0 0 0" />
      <mass value="1.817" />
      <inertia ixx="0.00383469" ixy="-1.57905e-09" ixz="2.04921e-08" iyy="0.00421827" iyz="0.00019709" izz="0.00258541" />
    </inertial>
    <visual>
      <origin xyz="1.00211e-08 -0.00389134 -0.070766" rpy="0 0 1.5708" />
      <geometry>
        <mesh filename="package://assets/lower_femur.stl" />
      </geometry>
      <material name="lower_femur_2_material">
        <color rgba="0.380392 0.0470588 0.435294 1" />
      </material>
    </visual>
    <collision>
      <origin xyz="1.00211e-08 -0.00389134 -0.070766" rpy="0 0 1.5708" />
      <geometry>
        <mesh filename="package://assets/lower_femur.stl" />
      </geometry>
    </collision>
    <visual>
      <origin xyz="-1.74296e-07 0.043 -0.113" rpy="0 -1.57079 1.57078" />
      <geometry>
        <mesh filename="package://assets/stator_x8_p20_120_unified.stl" />
      </geometry>
      <material name="stator_x8_p20_120_unified_8_material">
        <color rgba="0.882353 0.572549 0.478431 1" />
      </material>
    </visual>
    <collision>
      <origin xyz="-1.74296e-07 0.043 -0.113" rpy="0 -1.57079 1.57078" />
      <geometry>
        <mesh filename="package://assets/stator_x8_p20_120_unified.stl" />
      </geometry>
    </collision>
  </link>
  <link name="urdf_r_tibia_assembly">
    <inertial>
      <origin xyz="0.0163357 0.0511723 -0.277209" rpy="0 0 0" />
      <mass value="3.4106" />
      <inertia ixx="0.0617379" ixy="-0.000264838" ixz="0.00268123" iyy="0.0648035" iyz="0.00321885" izz="0.00849991" />
    </inertial>
    <visual>
      <origin xyz="0.0803622 0.0370024 -0.325364" rpy="0.0787708 0.0539328 0.0197929" />
      <geometry>
        <mesh filename="package://assets/m6_threaded_bar_225mm.stl" />
      </geometry>
      <material name="m6_threaded_bar_225mm_2_material">
        <color rgba="0.27451 0.0117647 0.317647 1" />
      </material>
    </visual>
    <collision>
      <origin xyz="0.0803622 0.0370024 -0.325364" rpy="0.0787708 0.0539328 0.0197929" />
      <geometry>
        <mesh filename="package://assets/m6_threaded_bar_225mm.stl" />
      </geometry>
    </collision>
    <visual>
      <origin xyz="0.0804187 0.0739998 -0.287695" rpy="0.01746 0.0588936 1.16039" />
      <geometry>
        <mesh filename="package://assets/m6_threaded_bar_300mm.stl" />
      </geometry>
      <material name="m6_threaded_bar_300mm_2_material">
        <color rgba="0.141176 0.0352941 0.396078 1" />
      </material>
    </visual>
    <collision>
      <origin xyz="0.0804187 0.0739998 -0.287695" rpy="0.01746 0.0588936 1.16039" />
      <geometry>
        <mesh filename="package://assets/m6_threaded_bar_300mm.stl" />
      </geometry>
    </collision>
    <visual>
      <origin xyz="0.000417719 0.0429159 -0.182555" rpy="-0.00149587 0 -1.5708" />
      <geometry>
        <mesh filename="package://assets/r_tibia.stl" />
      </geometry>
      <material name="r_tibia_material">
        <color rgba="0.654902 0.823529 0.576471 1" />
      </material>
    </visual>
    <collision>
      <origin xyz="0.000417719 0.0429159 -0.182555" rpy="-0.00149587 0 -1.5708" />
      <geometry>
        <mesh filename="package://assets/r_tibia.stl" />
      </geometry>
    </collision>
    <visual>
      <origin xyz="-0.0182399 0.055 -0.159973" rpy="-1.5723 0 -1.5708" />
      <geometry>
        <mesh filename="package://assets/stator_x4_p36_36_unified.stl" />
      </geometry>
      <material name="stator_x4_p36_36_unified_7_material">
        <color rgba="0.764706 0.545098 0.803922 1" />
      </material>
    </visual>
    <collision>
      <origin xyz="-0.0182399 0.055 -0.159973" rpy="-1.5723 0 -1.5708" />
      <geometry>
        <mesh filename="package://assets/stator_x4_p36_36_unified.stl" />
      </geometry>
    </collision>
    <visual>
      <origin xyz="-0.000563079 0.055 -0.3755" rpy="-0.00149587 0 -1.5708" />
      <geometry>
        <mesh filename="package://assets/spacer_bottom_tibia.stl" />
      </geometry>
      <material name="spacer_bottom_tibia_2_material">
        <color rgba="0.615686 0.811765 0.929412 1" />
      </material>
    </visual>
    <collision>
      <origin xyz="-0.000563079 0.055 -0.3755" rpy="-0.00149587 0 -1.5708" />
      <geometry>
        <mesh filename="package://assets/spacer_bottom_tibia.stl" />
      </geometry>
    </collision>
    <visual>
      <origin xyz="-0.0183524 0.055 -0.234973" rpy="1.57229 0 1.5708" />
      <geometry>
        <mesh filename="package://assets/stator_x4_p36_36_unified.stl" />
      </geometry>
      <material name="stator_x4_p36_36_unified_8_material">
        <color rgba="0.764706 0.545098 0.803922 1" />
      </material>
    </visual>
    <collision>
      <origin xyz="-0.0183524 0.055 -0.234973" rpy="1.57229 0 1.5708" />
      <geometry>
        <mesh filename="package://assets/stator_x4_p36_36_unified.stl" />
      </geometry>
    </collision>
    <visual>
      <origin xyz="0.0296503 0.056 -0.449476" rpy="-0.00149587 0 -1.5708" />
      <geometry>
        <mesh filename="package://assets/shoe.stl" />
      </geometry>
      <material name="shoe_2_material">
        <color rgba="0.0862745 0.321569 0.580392 1" />
      </material>
    </visual>
    <collision>
      <origin xyz="0.0296503 0.056 -0.449476" rpy="-0.00149587 0 -1.5708" />
      <geometry>
        <mesh filename="package://assets/shoe.stl" />
      </geometry>
    </collision>
    <visual>
      <origin xyz="0.0558635 0.056 -0.424532" rpy="-0.00149587 0 -1.5708" />
      <geometry>
        <mesh filename="package://assets/lower_fixation_leg_lontrol.stl" />
      </geometry>
      <material name="lower_fixation_leg_lontrol_2_material">
        <color rgba="0.615686 0.811765 0.929412 1" />
      </material>
    </visual>
    <collision>
      <origin xyz="0.0558635 0.056 -0.424532" rpy="-0.00149587 0 -1.5708" />
      <geometry>
        <mesh filename="package://assets/lower_fixation_leg_lontrol.stl" />
      </geometry>
    </collision>
    <visual>
      <origin xyz="0.0294707 0.056 -0.445027" rpy="-0.00149587 0 -1.5708" />
      <geometry>
        <mesh filename="package://assets/foot.stl" />
      </geometry>
      <material name="foot_2_material">
        <color rgba="0.615686 0.811765 0.929412 1" />
      </material>
    </visual>
    <collision>
      <origin xyz="0.0294707 0.056 -0.445027" rpy="-0.00149587 0 -1.5708" />
      <geometry>
        <mesh filename="package://assets/foot.stl" />
      </geometry>
    </collision>
    <visual>
      <origin xyz="0.0656474 0.0496492 -0.235203" rpy="0.0014935 -0.0194763 1.57077" />
      <geometry>
        <mesh filename="package://assets/lever_ankle.stl" />
      </geometry>
      <material name="lever_ankle_3_material">
        <color rgba="0.615686 0.811765 0.929412 1" />
      </material>
    </visual>
    <collision>
      <origin xyz="0.0656474 0.0496492 -0.235203" rpy="0.0014935 -0.0194763 1.57077" />
      <geometry>
        <mesh filename="package://assets/lever_ankle.stl" />
      </geometry>
    </collision>
    <visual>
      <origin xyz="0.0697468 0.0300047 -0.235592" rpy="1.57229 -0.0194763 1.57077" />
      <geometry>
        <mesh filename="package://assets/hex_nut_grade_a___b_m6x1__7468f1fe59412d2a2604ecf8e993c3bf.stl" />
      </geometry>
      <material name="hex_nut_grade_a___b_m6x1__7468f1fe59412d2a2604ecf8e993c3bf_3_material">
        <color rgba="0.603922 0.647059 0.686275 1" />
      </material>
    </visual>
    <collision>
      <origin xyz="0.0697468 0.0300047 -0.235592" rpy="1.57229 -0.0194763 1.57077" />
      <geometry>
        <mesh filename="package://assets/hex_nut_grade_a___b_m6x1__7468f1fe59412d2a2604ecf8e993c3bf.stl" />
      </geometry>
    </collision>
    <visual>
      <origin xyz="0.0533975 0.055 -0.23508" rpy="0.0014935 -0.0194763 1.57077" />
      <geometry>
        <mesh filename="package://assets/spacer_lever_ankle.stl" />
      </geometry>
      <material name="spacer_lever_ankle_3_material">
        <color rgba="0.615686 0.811765 0.929412 1" />
      </material>
    </visual>
    <collision>
      <origin xyz="0.0533975 0.055 -0.23508" rpy="0.0014935 -0.0194763 1.57077" />
      <geometry>
        <mesh filename="package://assets/spacer_lever_ankle.stl" />
      </geometry>
    </collision>
    <visual>
      <origin xyz="-0.00059232 0.0655 -0.395" rpy="0 -0.00149689 -3.14159" />
      <geometry>
        <mesh filename="package://assets/rulment_d22_x_d8_x_t7.stl" />
      </geometry>
      <material name="rulment_d22_x_d8_x_t7_5_material">
        <color rgba="0.901961 0.901961 0.901961 1" />
      </material>
    </visual>
    <collision>
      <origin xyz="-0.00059232 0.0655 -0.395" rpy="0 -0.00149689 -3.14159" />
      <geometry>
        <mesh filename="package://assets/rulment_d22_x_d8_x_t7.stl" />
      </geometry>
    </collision>
    <visual>
      <origin xyz="-0.000584287 0.0681799 -0.389643" rpy="-3.14159 -0.0015022 -3.14159" />
      <geometry>
        <mesh filename="package://assets/ankle_bearing_house.stl" />
      </geometry>
      <material name="ankle_bearing_house_5_material">
        <color rgba="0.615686 0.811765 0.929412 1" />
      </material>
    </visual>
    <collision>
      <origin xyz="-0.000584287 0.0681799 -0.389643" rpy="-3.14159 -0.0015022 -3.14159" />
      <geometry>
        <mesh filename="package://assets/ankle_bearing_house.stl" />
      </geometry>
    </collision>
    <visual>
      <origin xyz="0.06576 0.0603518 -0.160131" rpy="3.14009 -0.00591632 -1.57079" />
      <geometry>
        <mesh filename="package://assets/lever_ankle.stl" />
      </geometry>
      <material name="lever_ankle_4_material">
        <color rgba="0.615686 0.811765 0.929412 1" />
      </material>
    </visual>
    <collision>
      <origin xyz="0.06576 0.0603518 -0.160131" rpy="3.14009 -0.00591632 -1.57079" />
      <geometry>
        <mesh filename="package://assets/lever_ankle.stl" />
      </geometry>
    </collision>
    <visual>
      <origin xyz="0.0698598 0.0799996 -0.160253" rpy="-1.5723 -0.00591632 -1.57079" />
      <geometry>
        <mesh filename="package://assets/hex_nut_grade_a___b_m6x1__7468f1fe59412d2a2604ecf8e993c3bf.stl" />
      </geometry>
      <material name="hex_nut_grade_a___b_m6x1__7468f1fe59412d2a2604ecf8e993c3bf_4_material">
        <color rgba="0.603922 0.647059 0.686275 1" />
      </material>
    </visual>
    <collision>
      <origin xyz="0.0698598 0.0799996 -0.160253" rpy="-1.5723 -0.00591632 -1.57079" />
      <geometry>
        <mesh filename="package://assets/hex_nut_grade_a___b_m6x1__7468f1fe59412d2a2604ecf8e993c3bf.stl" />
      </geometry>
    </collision>
    <visual>
      <origin xyz="0.05351 0.055 -0.16008" rpy="3.1401 -0.00591632 -1.57079" />
      <geometry>
        <mesh filename="package://assets/spacer_lever_ankle.stl" />
      </geometry>
      <material name="spacer_lever_ankle_4_material">
        <color rgba="0.615686 0.811765 0.929412 1" />
      </material>
    </visual>
    <collision>
      <origin xyz="0.05351 0.055 -0.16008" rpy="3.1401 -0.00591632 -1.57079" />
      <geometry>
        <mesh filename="package://assets/spacer_lever_ankle.stl" />
      </geometry>
    </collision>
    <visual>
      <origin xyz="-0.00059232 0.0445 -0.395" rpy="0 0.00149954 0" />
      <geometry>
        <mesh filename="package://assets/rulment_d22_x_d8_x_t7.stl" />
      </geometry>
      <material name="rulment_d22_x_d8_x_t7_6_material">
        <color rgba="0.901961 0.901961 0.901961 1" />
      </material>
    </visual>
    <collision>
      <origin xyz="-0.00059232 0.0445 -0.395" rpy="0 0.00149954 0" />
      <geometry>
        <mesh filename="package://assets/rulment_d22_x_d8_x_t7.stl" />
      </geometry>
    </collision>
    <visual>
      <origin xyz="-0.000584287 0.0418201 -0.389643" rpy="3.14159 0.00149954 0" />
      <geometry>
        <mesh filename="package://assets/ankle_bearing_house.stl" />
      </geometry>
      <material name="ankle_bearing_house_6_material">
        <color rgba="0.615686 0.811765 0.929412 1" />
      </material>
    </visual>
    <collision>
      <origin xyz="-0.000584287 0.0418201 -0.389643" rpy="3.14159 0.00149954 0" />
      <geometry>
        <mesh filename="package://assets/ankle_bearing_house.stl" />
      </geometry>
    </collision>
    <visual>
      <origin xyz="0.0753776 0.068 -0.415113" rpy="-1.5723 0 -1.5708" />
      <geometry>
        <mesh filename="package://assets/m6_threaded_eye.stl" />
      </geometry>
      <material name="m6_threaded_eye_5_material">
        <color rgba="0.615686 0.811765 0.929412 1" />
      </material>
    </visual>
    <collision>
      <origin xyz="0.0753776 0.068 -0.415113" rpy="-1.5723 0 -1.5708" />
      <geometry>
        <mesh filename="package://assets/m6_threaded_eye.stl" />
      </geometry>
    </collision>
    <visual>
      <origin xyz="0.0753776 0.068 -0.415113" rpy="-1.51189 -0.0174259 2.73015" />
      <geometry>
        <mesh filename="package://assets/12_7mm_ball_with_6mm_hole.stl" />
      </geometry>
      <material name="12_7mm_ball_with_6mm_hole_5_material">
        <color rgba="0.647059 0.647059 0.647059 1" />
      </material>
    </visual>
    <collision>
      <origin xyz="0.0753776 0.068 -0.415113" rpy="-1.51189 -0.0174259 2.73015" />
      <geometry>
        <mesh filename="package://assets/12_7mm_ball_with_6mm_hole.stl" />
      </geometry>
    </collision>
    <visual>
      <origin xyz="0.0158657 0.056 -0.423024" rpy="3.14009 0 -1.5708" />
      <geometry>
        <mesh filename="package://assets/rulment_d22_x_d8_x_t7.stl" />
      </geometry>
      <material name="rulment_d22_x_d8_x_t7_7_material">
        <color rgba="0.901961 0.901961 0.901961 1" />
      </material>
    </visual>
    <collision>
      <origin xyz="0.0158657 0.056 -0.423024" rpy="3.14009 0 -1.5708" />
      <geometry>
        <mesh filename="package://assets/rulment_d22_x_d8_x_t7.stl" />
      </geometry>
    </collision>
    <visual>
      <origin xyz="0.0185375 0.056 -0.428385" rpy="-0.00149587 0 -1.5708" />
      <geometry>
        <mesh filename="package://assets/ankle_bearing_house.stl" />
      </geometry>
      <material name="ankle_bearing_house_7_material">
        <color rgba="0.615686 0.811765 0.929412 1" />
      </material>
    </visual>
    <collision>
      <origin xyz="0.0185375 0.056 -0.428385" rpy="-0.00149587 0 -1.5708" />
      <geometry>
        <mesh filename="package://assets/ankle_bearing_house.stl" />
      </geometry>
    </collision>
    <visual>
      <origin xyz="0.0753776 0.044 -0.415113" rpy="-1.5723 0 -1.5708" />
      <geometry>
        <mesh filename="package://assets/m6_threaded_eye.stl" />
      </geometry>
      <material name="m6_threaded_eye_6_material">
        <color rgba="0.615686 0.811765 0.929412 1" />
      </material>
    </visual>
    <collision>
      <origin xyz="0.0753776 0.044 -0.415113" rpy="-1.5723 0 -1.5708" />
      <geometry>
        <mesh filename="package://assets/m6_threaded_eye.stl" />
      </geometry>
    </collision>
    <visual>
      <origin xyz="0.0753776 0.044 -0.415113" rpy="-1.5167 -0.0786595 1.58633" />
      <geometry>
        <mesh filename="package://assets/12_7mm_ball_with_6mm_hole.stl" />
      </geometry>
      <material name="12_7mm_ball_with_6mm_hole_6_material">
        <color rgba="0.647059 0.647059 0.647059 1" />
      </material>
    </visual>
    <collision>
      <origin xyz="0.0753776 0.044 -0.415113" rpy="-1.5167 -0.0786595 1.58633" />
      <geometry>
        <mesh filename="package://assets/12_7mm_ball_with_6mm_hole.stl" />
      </geometry>
    </collision>
    <visual>
      <origin xyz="-0.0171343 0.056 -0.422975" rpy="-3.1401 0 1.5708" />
      <geometry>
        <mesh filename="package://assets/rulment_d22_x_d8_x_t7.stl" />
      </geometry>
      <material name="rulment_d22_x_d8_x_t7_8_material">
        <color rgba="0.901961 0.901961 0.901961 1" />
      </material>
    </visual>
    <collision>
      <origin xyz="-0.0171343 0.056 -0.422975" rpy="-3.1401 0 1.5708" />
      <geometry>
        <mesh filename="package://assets/rulment_d22_x_d8_x_t7.stl" />
      </geometry>
    </collision>
    <visual>
      <origin xyz="-0.0198222 0.056 -0.428328" rpy="0.00150322 0 1.5708" />
      <geometry>
        <mesh filename="package://assets/ankle_bearing_house.stl" />
      </geometry>
      <material name="ankle_bearing_house_8_material">
        <color rgba="0.615686 0.811765 0.929412 1" />
      </material>
    </visual>
    <collision>
      <origin xyz="-0.0198222 0.056 -0.428328" rpy="0.00150322 0 1.5708" />
      <geometry>
        <mesh filename="package://assets/ankle_bearing_house.stl" />
      </geometry>
    </collision>
    <visual>
      <origin xyz="0.0853468 0.0300047 -0.235615" rpy="1.57229 -0.0194763 1.57077" />
      <geometry>
        <mesh filename="package://assets/m6_threaded_eye.stl" />
      </geometry>
      <material name="m6_threaded_eye_7_material">
        <color rgba="0.615686 0.811765 0.929412 1" />
      </material>
    </visual>
    <collision>
      <origin xyz="0.0853468 0.0300047 -0.235615" rpy="1.57229 -0.0194763 1.57077" />
      <geometry>
        <mesh filename="package://assets/m6_threaded_eye.stl" />
      </geometry>
    </collision>
    <visual>
      <origin xyz="0.0853468 0.0300047 -0.235615" rpy="1.62489 -0.0786595 1.58633" />
      <geometry>
        <mesh filename="package://assets/12_7mm_ball_with_6mm_hole.stl" />
      </geometry>
      <material name="12_7mm_ball_with_6mm_hole_7_material">
        <color rgba="0.647059 0.647059 0.647059 1" />
      </material>
    </visual>
    <collision>
      <origin xyz="0.0853468 0.0300047 -0.235615" rpy="1.62489 -0.0786595 1.58633" />
      <geometry>
        <mesh filename="package://assets/12_7mm_ball_with_6mm_hole.stl" />
      </geometry>
    </collision>
    <visual>
      <origin xyz="0.0854598 0.0799996 -0.160276" rpy="-1.5723 -0.00591632 -1.57079" />
      <geometry>
        <mesh filename="package://assets/m6_threaded_eye.stl" />
      </geometry>
      <material name="m6_threaded_eye_8_material">
        <color rgba="0.615686 0.811765 0.929412 1" />
      </material>
    </visual>
    <collision>
      <origin xyz="0.0854598 0.0799996 -0.160276" rpy="-1.5723 -0.00591632 -1.57079" />
      <geometry>
        <mesh filename="package://assets/m6_threaded_eye.stl" />
      </geometry>
    </collision>
    <visual>
      <origin xyz="0.0854598 0.0799996 -0.160276" rpy="-1.58825 -0.0588955 -1.98121" />
      <geometry>
        <mesh filename="package://assets/12_7mm_ball_with_6mm_hole.stl" />
      </geometry>
      <material name="12_7mm_ball_with_6mm_hole_8_material">
        <color rgba="0.647059 0.647059 0.647059 1" />
      </material>
    </visual>
    <collision>
      <origin xyz="0.0854598 0.0799996 -0.160276" rpy="-1.58825 -0.0588955 -1.98121" />
      <geometry>
        <mesh filename="package://assets/12_7mm_ball_with_6mm_hole.stl" />
      </geometry>
    </collision>
  </link>
  <link name="ankle_assembly_3">
    <inertial>
      <origin xyz="-0.025 2.40154e-05 0.0154553" rpy="0 0 0" />
      <mass value="0.0816337" />
      <inertia ixx="1.68911e-05" ixy="2.23442e-25" ixz="5.76744e-23" iyy="2.14344e-05" iyz="-1.39271e-08" izz="1.24715e-05" />
    </inertial>
    <visual>
      <origin xyz="-0.025 4.35081e-05 0.028" rpy="0 -0.00155386 -1.5708" />
      <geometry>
        <mesh filename="package://assets/upper_ankle_shaft.stl" />
      </geometry>
      <material name="upper_ankle_shaft_3_material">
        <color rgba="0.615686 0.811765 0.929412 1" />
      </material>
    </visual>
    <collision>
      <origin xyz="-0.025 4.35081e-05 0.028" rpy="0 -0.00155386 -1.5708" />
      <geometry>
        <mesh filename="package://assets/upper_ankle_shaft.stl" />
      </geometry>
    </collision>
    <visual>
      <origin xyz="-0.025 2.92556e-05 0.0188277" rpy="0 -0.00155386 -1.5708" />
      <geometry>
        <mesh filename="package://assets/ankle_ear.stl" />
      </geometry>
      <material name="ankle_ear_3_material">
        <color rgba="0.615686 0.811765 0.929412 1" />
      </material>
    </visual>
    <collision>
      <origin xyz="-0.025 2.92556e-05 0.0188277" rpy="0 -0.00155386 -1.5708" />
      <geometry>
        <mesh filename="package://assets/ankle_ear.stl" />
      </geometry>
    </collision>
    <visual>
      <origin xyz="-0.025 0 0" rpy="0 -0.00155386 -1.5708" />
      <geometry>
        <mesh filename="package://assets/ankle_shaft.stl" />
      </geometry>
      <material name="ankle_shaft_3_material">
        <color rgba="0.615686 0.811765 0.929412 1" />
      </material>
    </visual>
    <collision>
      <origin xyz="-0.025 0 0" rpy="0 -0.00155386 -1.5708" />
      <geometry>
        <mesh filename="package://assets/ankle_shaft.stl" />
      </geometry>
    </collision>
  </link>
  <joint name="right_ankle_pitch_joint" type="revolute">
    <origin xyz="0.0243657 0.056 -0.423037" rpy="0.00155386 0.00149689 0" />
    <parent link="urdf_r_tibia_assembly" />
    <child link="ankle_assembly_3" />
    <axis xyz="1 0 0" />
    <limit effort="10" velocity="10" lower="-0.785398" upper="0.785398" />
  </joint>
  <link name="ankle_assembly_4">
    <inertial>
      <origin xyz="-0.0249768 9.18303e-08 0.0154927" rpy="0 0 0" />
      <mass value="0.0816337" />
      <inertia ixx="1.68911e-05" ixy="1.66885e-11" ixz="-6.61565e-09" iyy="2.14344e-05" iyz="-2.50682e-14" izz="1.24715e-05" />
    </inertial>
    <visual>
      <origin xyz="-0.0249581 9.18304e-08 0.0280374" rpy="-0.00150056 0 -1.5708" />
      <geometry>
        <mesh filename="package://assets/upper_ankle_shaft.stl" />
      </geometry>
      <material name="upper_ankle_shaft_4_material">
        <color rgba="0.615686 0.811765 0.929412 1" />
      </material>
    </visual>
    <collision>
      <origin xyz="-0.0249581 9.18304e-08 0.0280374" rpy="-0.00150056 0 -1.5708" />
      <geometry>
        <mesh filename="package://assets/upper_ankle_shaft.stl" />
      </geometry>
    </collision>
    <visual>
      <origin xyz="-0.0249718 9.18303e-08 0.0188651" rpy="-0.00150056 0 -1.5708" />
      <geometry>
        <mesh filename="package://assets/ankle_ear.stl" />
      </geometry>
      <material name="ankle_ear_4_material">
        <color rgba="0.615686 0.811765 0.929412 1" />
      </material>
    </visual>
    <collision>
      <origin xyz="-0.0249718 9.18303e-08 0.0188651" rpy="-0.00150056 0 -1.5708" />
      <geometry>
        <mesh filename="package://assets/ankle_ear.stl" />
      </geometry>
    </collision>
    <visual>
      <origin xyz="-0.025 9.18301e-08 3.74223e-05" rpy="-0.00150056 0 -1.5708" />
      <geometry>
        <mesh filename="package://assets/ankle_shaft.stl" />
      </geometry>
      <material name="ankle_shaft_4_material">
        <color rgba="0.615686 0.811765 0.929412 1" />
      </material>
    </visual>
    <collision>
      <origin xyz="-0.025 9.18301e-08 3.74223e-05" rpy="-0.00150056 0 -1.5708" />
      <geometry>
        <mesh filename="package://assets/ankle_shaft.stl" />
      </geometry>
    </collision>
  </link>
  <joint name="right_ankle_pitch_joint_2" type="fixed">
    <origin xyz="0.0243657 0.056 -0.423037" rpy="0 0 0" />
    <parent link="urdf_r_tibia_assembly" />
    <child link="ankle_assembly_4" />
  </joint>
  <joint name="right_knee_joint" type="revolute">
    <origin xyz="2.22935e-07 -0.055 -0.113" rpy="0 0.0158737 0" />
    <parent link="urdf_lower_femur_assembly_2" />
    <child link="urdf_r_tibia_assembly" />
    <axis xyz="0 1 0" />
    <limit effort="10" velocity="10" lower="-0.191906" upper="2.33882" />
  </joint>
  <joint name="right_hip_yaw_joint" type="revolute">
    <origin xyz="-0.053 -0.00033635 -0.217" rpy="-0.00155 0 0" />
    <parent link="urdf_r_upper_femur_assemby" />
    <child link="urdf_lower_femur_assembly_2" />
    <axis xyz="0 0 1" />
    <limit effort="10" velocity="10" lower="-1.57082" upper="1.57077" />
  </joint>
  <joint name="right_hip_roll_joint" type="revolute">
    <origin xyz="0.0549931 -0.078 0.000872784" rpy="0 -0.0158773 0" />
    <parent link="urdf_hip_assembly_2" />
    <child link="urdf_r_upper_femur_assemby" />
    <axis xyz="1 0 0" />
    <limit effort="10" velocity="10" lower="-3.14005" upper="0.35061" />
  </joint>
  <joint name="right_hip_pitch_joint" type="revolute">
    <origin xyz="0.0333787 -0.107699 -0.467748" rpy="0 0 0" />
    <parent link="urdf_base" />
    <child link="urdf_hip_assembly_2" />
    <axis xyz="0 1 0" />
    <limit effort="10" velocity="10" lower="-2.51486" upper="1.58667" />
  </joint>
</robot>
